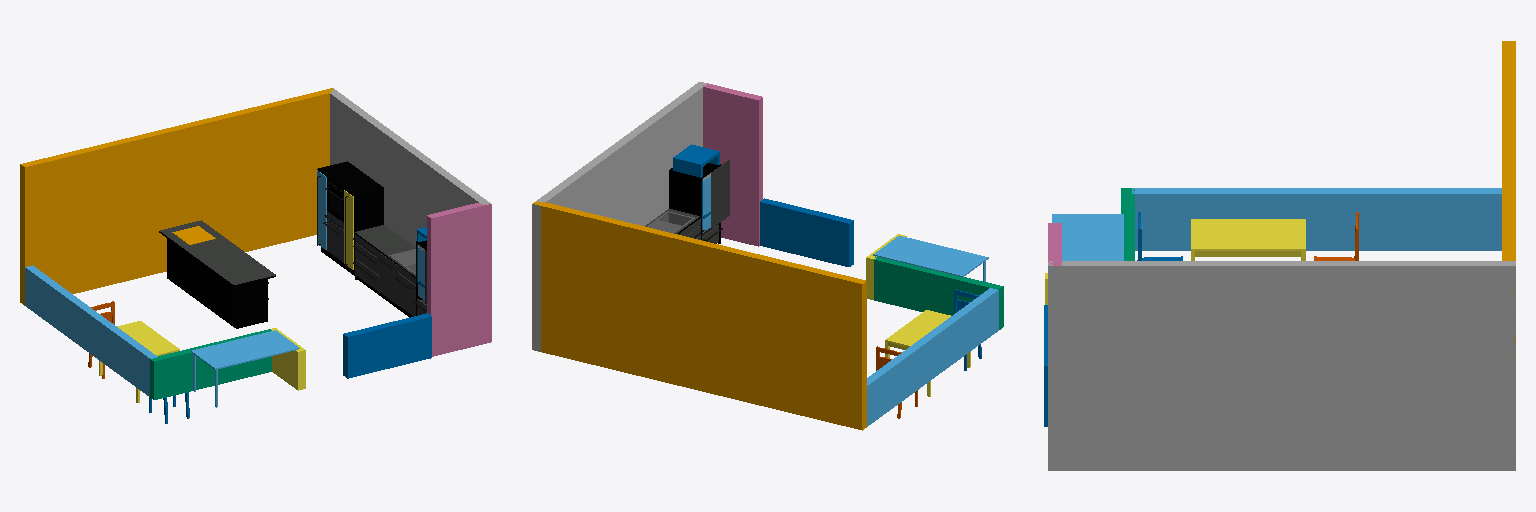
--- Facts derived from the render (not from the file) ---
Views: 3 orthographic renders of the robot side by side, from view 1: azimuth 30°, elevation 25°; view 2: azimuth 150°, elevation 25°; view 3: azimuth 270°, elevation 25°.
Robot: iai_kitchen — 134 links, 133 joints (9 revolute, 16 prismatic, 108 fixed); root link world; default pose: all joints at 0.
Visible links, largest first — view 1: kitchen_wall_3, kitchen_wall_2, kitchen_wall_1, kitchen_island, kitchen_wall_4, kitchen_wall_7, kitchen_wall_5, oven_area_area, table_area_main, sink_area, kitchen_wall_6, dining_area_jokkmokk_table_main (+4 smaller); view 2: kitchen_wall_3, kitchen_wall_2, kitchen_wall_1, kitchen_wall_4, kitchen_wall_7, kitchen_wall_5, table_area_main, fridge_area, dining_area_jokkmokk_table_main, iai_fridge_main, iai_fridge_door, sink_area_sink; view 3: kitchen_wall_2, kitchen_wall_4, dining_area_jokkmokk_table_main, kitchen_wall_3, table_area_main, kitchen_wall_5, kitchen_wall_1.
Boxes of the visible links, x1=… form: kitchen_wall_3: x1=20, y1=88, x2=333, y2=305; kitchen_wall_2: x1=327, y1=88, x2=490, y2=246; kitchen_wall_1: x1=427, y1=203, x2=491, y2=356; kitchen_island: x1=159, y1=220, x2=275, y2=328; kitchen_wall_4: x1=25, y1=265, x2=157, y2=396; kitchen_wall_7: x1=343, y1=313, x2=431, y2=378; kitchen_wall_5: x1=150, y1=329, x2=271, y2=399; oven_area_area: x1=317, y1=161, x2=383, y2=275; table_area_main: x1=191, y1=330, x2=299, y2=407; sink_area: x1=355, y1=225, x2=422, y2=317; kitchen_wall_6: x1=271, y1=328, x2=305, y2=390; dining_area_jokkmokk_table_main: x1=99, y1=321, x2=179, y2=402; kitchen_wall_3: x1=533, y1=200, x2=866, y2=430; kitchen_wall_2: x1=532, y1=82, x2=707, y2=351; kitchen_wall_1: x1=703, y1=83, x2=762, y2=246; kitchen_wall_4: x1=867, y1=288, x2=998, y2=426; kitchen_wall_7: x1=760, y1=198, x2=853, y2=266; kitchen_wall_5: x1=874, y1=256, x2=1003, y2=329; table_area_main: x1=873, y1=236, x2=988, y2=281; fridge_area: x1=669, y1=163, x2=720, y2=243; dining_area_jokkmokk_table_main: x1=885, y1=310, x2=970, y2=396; iai_fridge_main: x1=673, y1=144, x2=719, y2=219; iai_fridge_door: x1=711, y1=159, x2=729, y2=228; sink_area_sink: x1=647, y1=211, x2=694, y2=233; kitchen_wall_2: x1=1048, y1=261, x2=1515, y2=470; kitchen_wall_4: x1=1132, y1=188, x2=1501, y2=250; dining_area_jokkmokk_table_main: x1=1191, y1=219, x2=1305, y2=260; kitchen_wall_3: x1=1502, y1=41, x2=1515, y2=470; table_area_main: x1=1052, y1=214, x2=1123, y2=260; kitchen_wall_5: x1=1121, y1=188, x2=1134, y2=260; kitchen_wall_1: x1=1048, y1=223, x2=1061, y2=265.
Size in the robot's own frame: 5.9 by 5.22 by 3.05 metres.
56 mesh visuals loaded from 30 distinct referenced files (1 binary STL, 26 Collada DAE, 2 OBJ); not drawn: 1 (reference not matched to a file when rendering).

robot.urdf — iai_kitchen:
<?xml version="1.0" ?>
<!-- =================================================================================== -->
<!-- |    This document was autogenerated by xacro from iai_kitchen_python.urdf.xacro  | -->
<!-- |    EDITING THIS FILE BY HAND IS NOT RECOMMENDED                                 | -->
<!-- =================================================================================== -->
<robot name="iai_kitchen" xmlns:xacro="http://ros.org/wiki/xacro">
  <!--- FIXME THIS should NOT be here -->
  <!--
      <link name="map">
      
      <sphere_inertia radius="0" mass="0"/>
      </link>
      <iai_drawer_60_14 name="drawer_1" parent="map">
      <origin rpy="0 0 0" xyz="0 0 1"/>
      </iai_drawer_60_14>
      
      <iai_drawer_80_14 name="drawer_2" parent="map">
      <origin rpy="0 0 0" xyz="0 0 2"/>
      </iai_drawer_80_14>
      
      <iai_drawer_60_29 name="drawer_3" parent="map">
      <origin rpy="0 0 0" xyz="0 0 3"/>
      </iai_drawer_60_29>
      
      <iai_drawer_80_29 name="drawer_4" parent="map">
      <origin rpy="0 0 0" xyz="0 0 4"/>
      </iai_drawer_80_29>
      
      <iai_drawer_100_29 name="drawer_5" parent="map">
      <origin rpy="0 0 0" xyz="0 0 5"/>
      </iai_drawer_100_29>
  -->
  <!--- FIXME THIS should NOT be here -->
  <!--
  <link name="oven_footprint">
    
    <sphere_inertia radius="0" mass="0"/>
  </link>
  <iai_oven name="iai_oven" parent="oven_footprint"/>
  -->
  <!--- FIXME THIS should NOT be here -->
  <!--
      <link name="map">
      
      <sphere_inertia radius="0" mass="0"/>
      </link>
      <iai_drawer_60_14 name="drawer_1" parent="map">
      <origin rpy="0 0 0" xyz="0 0 1"/>
      </iai_drawer_60_14>
      
      <iai_drawer_80_14 name="drawer_2" parent="map">
      <origin rpy="0 0 0" xyz="0 0 2"/>
      </iai_drawer_80_14>
      
      <iai_drawer_60_29 name="drawer_3" parent="map">
      <origin rpy="0 0 0" xyz="0 0 3"/>
      </iai_drawer_60_29>
      
      <iai_drawer_80_29 name="drawer_4" parent="map">
      <origin rpy="0 0 0" xyz="0 0 4"/>
      </iai_drawer_80_29>
      
      <iai_drawer_100_29 name="drawer_5" parent="map">
      <origin rpy="0 0 0" xyz="0 0 5"/>
      </iai_drawer_100_29>
  -->
  <!--- FIXME THIS should NOT be here -->
  <!--
      <link name="map">
      
      <sphere_inertia radius="0" mass="0"/>
      </link>
      <iai_drawer_60_14 name="drawer_1" parent="map">
      <origin rpy="0 0 0" xyz="0 0 1"/>
      </iai_drawer_60_14>
      
      <iai_drawer_80_14 name="drawer_2" parent="map">
      <origin rpy="0 0 0" xyz="0 0 2"/>
      </iai_drawer_80_14>
      
      <iai_drawer_60_29 name="drawer_3" parent="map">
      <origin rpy="0 0 0" xyz="0 0 3"/>
      </iai_drawer_60_29>
      
      <iai_drawer_80_29 name="drawer_4" parent="map">
      <origin rpy="0 0 0" xyz="0 0 4"/>
      </iai_drawer_80_29>
      
      <iai_drawer_100_29 name="drawer_5" parent="map">
      <origin rpy="0 0 0" xyz="0 0 5"/>
      </iai_drawer_100_29>
  -->
  <!--- FIXME THIS should NOT be here -->
  <!--
      <link name="map">
      
      <sphere_inertia radius="0" mass="0"/>
      </link>
      <iai_drawer_60_14 name="drawer_1" parent="map">
      <origin rpy="0 0 0" xyz="0 0 1"/>
      </iai_drawer_60_14>
      
      <iai_drawer_80_14 name="drawer_2" parent="map">
      <origin rpy="0 0 0" xyz="0 0 2"/>
      </iai_drawer_80_14>
      
      <iai_drawer_60_29 name="drawer_3" parent="map">
      <origin rpy="0 0 0" xyz="0 0 3"/>
      </iai_drawer_60_29>
      
      <iai_drawer_80_29 name="drawer_4" parent="map">
      <origin rpy="0 0 0" xyz="0 0 4"/>
      </iai_drawer_80_29>
      
      <iai_drawer_100_29 name="drawer_5" parent="map">
      <origin rpy="0 0 0" xyz="0 0 5"/>
      </iai_drawer_100_29>
  -->
  <link name="room_link">
    <inertial>
      <origin rpy="0 0 0" xyz="0.0 0.0 0.0"/>
      <mass value="1"/>
      <inertia ixx="1" ixy="0.0" ixz="0.0" iyy="1" iyz="0.0" izz="1"/>
    </inertial>
  </link>
  <link name="world"/>
  <joint name="world_room_joint" type="fixed">
    <origin rpy="0 0 0" xyz="0.0 0.03 0 "/>
    <parent link="world"/>
    <child link="room_link"/>
  </joint>
  <link name="sink_area_footprint">
    <inertial>
      <origin rpy="0 0 0" xyz="0.0 0.0 0.0"/>
      <mass value="1"/>
      <inertia ixx="1" ixy="0.0" ixz="0.0" iyy="1" iyz="0.0" izz="1"/>
    </inertial>
  </link>
  <link name="sink_area">
    <inertial>
      <origin rpy="0 0 0" xyz="0.0 0.0 0.0"/>
      <mass value="1"/>
      <inertia ixx="1" ixy="0.0" ixz="0.0" iyy="1" iyz="0.0" izz="1"/>
    </inertial>
    <visual>
      <origin rpy="0 0 0" xyz="0 0 0"/>
      <geometry>
        <mesh filename="package://iai_kitchen/meshes/racks/SinkArea.dae"/>
      </geometry>
    </visual>
    <collision>
      <origin rpy="0 0 0" xyz="0 0 0"/>
      <geometry>
        <mesh filename="package://iai_kitchen/meshes/racks/SinkArea.dae"/>
      </geometry>
    </collision>
  </link>
  <joint name="sink_area_footprint_joint" type="fixed">
    <origin rpy="0 0 3.14159265359" xyz="1.855 1.3 0"/>
    <child link="sink_area_footprint"/>
    <parent link="room_link"/>
  </joint>
  <joint name="sink_area_main_joint" type="fixed">
    <origin rpy="0 0 0" xyz="0.29 1.03 0.41"/>
    <parent link="sink_area_footprint"/>
    <child link="sink_area"/>
  </joint>
  <link name="sink_area_surface">
    <inertial>
      <origin rpy="0 0 0" xyz="0.0 0.0 0.0"/>
      <mass value="1"/>
      <inertia ixx="1" ixy="0.0" ixz="0.0" iyy="1" iyz="0.0" izz="1"/>
    </inertial>
    <collision>
      <origin rpy="0 0 0" xyz="0 -0.225 0"/>
      <geometry>
        <box size="0.575 1.6 0.02"/>
      </geometry>
    </collision>
  </link>
  <joint name="sink_area_surface_joint" type="fixed">
    <origin rpy="0 0 0" xyz="0.0 0. 0.43"/>
    <parent link="sink_area"/>
    <child link="sink_area_surface"/>
  </joint>
  <link name="sink_area_sink">
    <inertial>
      <origin rpy="0 0 0" xyz="0.0 0.0 0.0"/>
      <mass value="1"/>
      <inertia ixx="1" ixy="0.0" ixz="0.0" iyy="1" iyz="0.0" izz="1"/>
    </inertial>
    <visual>
      <origin rpy="0 0 0" xyz="0 0 0"/>
      <geometry>
        <mesh filename="package://iai_kitchen/meshes/misc/Sink.dae"/>
      </geometry>
    </visual>
    <collision>
      <origin rpy="0 0 0" xyz="0 0 0"/>
      <geometry>
        <mesh filename="package://iai_kitchen/meshes/misc/Sink.dae"/>
      </geometry>
    </collision>
  </link>
  <joint name="sink_area_sink_joint" type="fixed">
    <origin rpy="0 0 0" xyz="0.005 0.47 0.4414"/>
    <parent link="sink_area"/>
    <child link="sink_area_sink"/>
  </joint>
  <link name="sink_area_right_panel">
    <inertial>
      <origin rpy="0 0 0" xyz="0.0 0.0 0.0"/>
      <mass value="1"/>
      <inertia ixx="1" ixy="0.0" ixz="0.0" iyy="1" iyz="0.0" izz="1"/>
    </inertial>
    <visual>
      <origin rpy="0 0 0" xyz="0 0 0"/>
      <geometry>
        <mesh filename="package://iai_kitchen/meshes/drawers/Panel_60.dae"/>
      </geometry>
    </visual>
    <collision>
      <origin rpy="0 0 0" xyz="0 0 0"/>
      <geometry>
        <mesh filename="package://iai_kitchen/meshes/drawers/Panel_60.dae"/>
      </geometry>
    </collision>
  </link>
  <joint name="sink_area_right_panel_joint" type="fixed">
    <origin rpy="0 0 0" xyz="0.28 0.7 0.355 "/>
    <parent link="sink_area"/>
    <child link="sink_area_right_panel"/>
  </joint>
  <link name="sink_area_trash_drawer_main">
    <inertial>
      <origin rpy="0 0 0" xyz="0.0 0.0 0.0"/>
      <mass value="1"/>
      <inertia ixx="1" ixy="0.0" ixz="0.0" iyy="1" iyz="0.0" izz="1"/>
    </inertial>
    <visual>
      <origin rpy="0 0 0" xyz="0 0 0"/>
      <geometry>
        <mesh filename="package://iai_kitchen/meshes/drawers/Drawer_60_58.dae"/>
      </geometry>
    </visual>
    <collision>
      <origin rpy="0 0 0" xyz="0 0 0"/>
      <geometry>
        <mesh filename="package://iai_kitchen/meshes/drawers/Drawer_60_58.dae"/>
      </geometry>
    </collision>
  </link>
  <link name="sink_area_trash_drawer_handle">
    <inertial>
      <origin rpy="0 0 0" xyz="0.0 0.0 0.0"/>
      <mass value="1"/>
      <inertia ixx="1" ixy="0.0" ixz="0.0" iyy="1" iyz="0.0" izz="1"/>
    </inertial>
    <visual>
      <origin rpy="0 0 0" xyz="0 0 0"/>
      <geometry>
        <mesh filename="package://iai_kitchen/meshes/handles/Handle60.dae"/>
      </geometry>
    </visual>
    <collision>
      <origin rpy="0 0 0" xyz="0 0 0"/>
      <geometry>
        <mesh filename="package://iai_kitchen/meshes/handles/Handle60.dae"/>
      </geometry>
    </collision>
  </link>
  <joint name="sink_area_trash_drawer_main_joint" type="prismatic">
    <origin rpy="0 0 0" xyz="0.01 0.7 -0.015 "/>
    <parent link="sink_area"/>
    <child link="sink_area_trash_drawer_main"/>
    <axis xyz="1. 0. 0.0"/>
    <limit effort="300" lower="0" upper="0.48" velocity="10"/>
    <!--
          <limit effort="300" lower="0" upper="0" velocity="10"/>
      -->
  </joint>
  <joint name="sink_area_trash_drawer_handle_joint" type="fixed">
    <origin rpy="0 0 0" xyz="0.37 0 0.25"/>
    <parent link="sink_area_trash_drawer_main"/>
    <child link="sink_area_trash_drawer_handle"/>
    <axis xyz="0 0 1"/>
    <limit effort="300" lower="0" upper="1.57079632679" velocity="10"/>
  </joint>
  <link name="sink_area_left_upper_drawer_main">
    <inertial>
      <origin rpy="0 0 0" xyz="0.0 0.0 0.0"/>
      <mass value="1"/>
      <inertia ixx="1" ixy="0.0" ixz="0.0" iyy="1" iyz="0.0" izz="1"/>
    </inertial>
    <visual>
      <origin rpy="0 0 0" xyz="0 0 0"/>
      <geometry>
        <mesh filename="package://iai_kitchen/meshes/drawers/Drawer_80_14.dae"/>
      </geometry>
    </visual>
    <collision>
      <origin rpy="0 0 0" xyz="0 0 0"/>
      <geometry>
        <mesh filename="package://iai_kitchen/meshes/drawers/Drawer_80_14.dae"/>
      </geometry>
    </collision>
  </link>
  <link name="sink_area_left_upper_drawer_handle">
    <inertial>
      <origin rpy="0 0 0" xyz="0.0 0.0 0.0"/>
      <mass value="1"/>
      <inertia ixx="1" ixy="0.0" ixz="0.0" iyy="1" iyz="0.0" izz="1"/>
    </inertial>
    <visual>
      <origin rpy="0 0 0" xyz="0 0 0"/>
      <geometry>
        <mesh filename="package://iai_kitchen/meshes/handles/Handle80.dae"/>
      </geometry>
    </visual>
    <collision>
      <origin rpy="0 0 0" xyz="0 0 0"/>
      <geometry>
        <mesh filename="package://iai_kitchen/meshes/handles/Handle80.dae"/>
      </geometry>
    </collision>
  </link>
  <joint name="sink_area_left_upper_drawer_main_joint" type="prismatic">
    <origin rpy="0 0 0" xyz="0.01 -0.6 0.345 "/>
    <parent link="sink_area"/>
    <child link="sink_area_left_upper_drawer_main"/>
    <axis xyz="1. 0. 0.0"/>
    <limit effort="300" lower="0" upper="0.48" velocity="10"/>
    <!--
          <limit effort="300" lower="0" upper="0" velocity="10"/>
      -->
  </joint>
  <joint name="sink_area_left_upper_drawer_handle_joint" type="fixed">
    <origin rpy="0 0 0" xyz="0.3525 0 0.0175"/>
    <parent link="sink_area_left_upper_drawer_main"/>
    <child link="sink_area_left_upper_drawer_handle"/>
    <axis xyz="0 0 1"/>
    <limit effort="300" lower="0" upper="1.57079632679" velocity="10"/>
  </joint>
  <link name="sink_area_left_middle_drawer_main">
    <inertial>
      <origin rpy="0 0 0" xyz="0.0 0.0 0.0"/>
      <mass value="1"/>
      <inertia ixx="1" ixy="0.0" ixz="0.0" iyy="1" iyz="0.0" izz="1"/>
    </inertial>
    <visual>
      <origin rpy="0 0 0" xyz="0 0 0"/>
      <geometry>
        <mesh filename="package://iai_kitchen/meshes/drawers/Drawer_80_29.dae"/>
      </geometry>
    </visual>
    <collision>
      <origin rpy="0 0 0" xyz="0 0 0"/>
      <geometry>
        <mesh filename="package://iai_kitchen/meshes/drawers/Drawer_80_29.dae"/>
      </geometry>
    </collision>
  </link>
  <link name="sink_area_left_middle_drawer_handle">
    <inertial>
      <origin rpy="0 0 0" xyz="0.0 0.0 0.0"/>
      <mass value="1"/>
      <inertia ixx="1" ixy="0.0" ixz="0.0" iyy="1" iyz="0.0" izz="1"/>
    </inertial>
    <visual>
      <origin rpy="0 0 0" xyz="0 0 0"/>
      <geometry>
        <mesh filename="package://iai_kitchen/meshes/handles/Handle80.dae"/>
      </geometry>
    </visual>
    <collision>
      <origin rpy="0 0 0" xyz="0 0 0"/>
      <geometry>
        <mesh filename="package://iai_kitchen/meshes/handles/Handle80.dae"/>
      </geometry>
    </collision>
  </link>
  <joint name="sink_area_left_middle_drawer_main_joint" type="prismatic">
    <origin rpy="0 0 0" xyz="0.01 -0.6 0.12 "/>
    <parent link="sink_area"/>
    <child link="sink_area_left_middle_drawer_main"/>
    <axis xyz="1. 0. 0.0"/>
    <limit effort="300" lower="0" upper="0.48" velocity="10"/>
    <!--
          <limit effort="300" lower="0" upper="0" velocity="10"/>
      -->
  </joint>
  <joint name="sink_area_left_middle_drawer_handle_joint" type="fixed">
    <origin rpy="0 0 0" xyz="0.3525 0 0.11"/>
    <parent link="sink_area_left_middle_drawer_main"/>
    <child link="sink_area_left_middle_drawer_handle"/>
    <axis xyz="0 0 1"/>
    <limit effort="300" lower="0" upper="1.57079632679" velocity="10"/>
  </joint>
  <link name="sink_area_left_bottom_drawer_main">
    <inertial>
      <origin rpy="0 0 0" xyz="0.0 0.0 0.0"/>
      <mass value="1"/>
      <inertia ixx="1" ixy="0.0" ixz="0.0" iyy="1" iyz="0.0" izz="1"/>
    </inertial>
    <visual>
      <origin rpy="0 0 0" xyz="0 0 0"/>
      <geometry>
        <mesh filename="package://iai_kitchen/meshes/drawers/Drawer_80_29.dae"/>
      </geometry>
    </visual>
    <collision>
      <origin rpy="0 0 0" xyz="0 0 0"/>
      <geometry>
        <mesh filename="package://iai_kitchen/meshes/drawers/Drawer_80_29.dae"/>
      </geometry>
    </collision>
  </link>
  <link name="sink_area_left_bottom_drawer_handle">
    <inertial>
      <origin rpy="0 0 0" xyz="0.0 0.0 0.0"/>
      <mass value="1"/>
      <inertia ixx="1" ixy="0.0" ixz="0.0" iyy="1" iyz="0.0" izz="1"/>
    </inertial>
    <visual>
      <origin rpy="0 0 0" xyz="0 0 0"/>
      <geometry>
        <mesh filename="package://iai_kitchen/meshes/handles/Handle80.dae"/>
      </geometry>
    </visual>
    <collision>
      <origin rpy="0 0 0" xyz="0 0 0"/>
      <geometry>
        <mesh filename="package://iai_kitchen/meshes/handles/Handle80.dae"/>
      </geometry>
    </collision>
  </link>
  <joint name="sink_area_left_bottom_drawer_main_joint" type="prismatic">
    <origin rpy="0 0 0" xyz="0.01 -0.6 -0.18"/>
    <parent link="sink_area"/>
    <child link="sink_area_left_bottom_drawer_main"/>
    <axis xyz="1. 0. 0.0"/>
    <limit effort="300" lower="0" upper="0.48" velocity="10"/>
    <!--
          <limit effort="300" lower="0" upper="0" velocity="10"/>
      -->
  </joint>
  <joint name="sink_area_left_bottom_drawer_handle_joint" type="fixed">
    <origin rpy="0 0 0" xyz="0.3525 0 0.11"/>
    <parent link="sink_area_left_bottom_drawer_main"/>
    <child link="sink_area_left_bottom_drawer_handle"/>
    <axis xyz="0 0 1"/>
    <limit effort="300" lower="0" upper="1.57079632679" velocity="10"/>
  </joint>
  <link name="sink_area_dish_washer_main">
    <inertial>
      <origin rpy="0 0 0" xyz="0.0 0.0 0.0"/>
      <mass value="1"/>
      <inertia ixx="1" ixy="0.0" ixz="0.0" iyy="1" iyz="0.0" izz="1"/>
    </inertial>
    <visual>
      <origin rpy="0 0 0" xyz="0 0 0"/>
      <geometry>
        <mesh filename="package://iai_kitchen/meshes/misc/DishWasher.dae"/>
      </geometry>
    </visual>
    <collision>
      <origin rpy="0 0 0" xyz="0 0 0"/>
      <geometry>
        <mesh filename="package://iai_kitchen/meshes/misc/DishWasher.dae"/>
      </geometry>
    </collision>
  </link>
  <link name="sink_area_dish_washer_door">
    <inertial>
      <origin rpy="0 0 0" xyz="0.0 0.0 0.0"/>
      <mass value="1"/>
      <inertia ixx="1" ixy="0.0" ixz="0.0" iyy="1" iyz="0.0" izz="1"/>
    </inertial>
    <visual>
      <origin rpy="1.57079632679 0 0" xyz="0 0.055 0"/>
      <geometry>
        <mesh filename="package://iai_kitchen/meshes/misc/DishWasherDoor.dae"/>
      </geometry>
    </visual>
    <collision>
      <origin rpy="1.57079632679 0 0" xyz="0 0.055 0"/>
      <geometry>
        <mesh filename="package://iai_kitchen/meshes/misc/DishWasherDoor.dae"/>
      </geometry>
    </collision>
  </link>
  <link name="sink_area_dish_washer_door_handle">
    <inertial>
      <origin rpy="0 0 0" xyz="0.0 0.0 0.0"/>
      <mass value="1"/>
      <inertia ixx="1" ixy="0.0" ixz="0.0" iyy="1" iyz="0.0" izz="1"/>
    </inertial>
    <visual>
      <origin rpy="0 0 0" xyz="0 0 0"/>
      <geometry>
        <mesh filename="package://iai_kitchen/meshes/handles/Handle60.dae"/>
      </geometry>
    </visual>
    <collision>
      <origin rpy="0 0 0" xyz="0 0 0"/>
      <geometry>
        <mesh filename="package://iai_kitchen/meshes/handles/Handle60.dae"/>
      </geometry>
    </collision>
  </link>
  <!--
    <xacro:if value="simulated"/>
    -->
  <joint name="sink_area_dish_washer_main_joint" type="revolute">
    <limit effort="300" lower="0" upper="0" velocity="10"/>
    <origin rpy="0 0 0" xyz="0.01 0.1 0.06"/>
    <parent link="sink_area"/>
    <child link="sink_area_dish_washer_main"/>
  </joint>
  <!--
    <xacro:if value="${simulated}">
    <joint name="${name}_door_joint" type="revolute">
      <origin xyz="0.27 0. -0.325" rpy="${-0.5*pi} 0 0" />
      <parent link="${name}_main"/>
      <child link="${name}_door"/>
      <axis xyz="0 0 1"/>
       FIXME make closed position stable instead of forbidding opening...
      <limit lower="0" upper="0" effort="300" velocity="10"/>
    </joint>

    </xacro:if>
    -->
  <!--
    <xacro:unless value="${simulated}">
    -->
  <joint name="sink_area_dish_washer_door_joint" type="revolute">
    <origin rpy="-1.57079632679 0 0" xyz="0.27 0. -0.285"/>
    <parent link="sink_area_dish_washer_main"/>
    <child link="sink_area_dish_washer_door"/>
    <axis xyz="0 0 1"/>
    <!--
      <limit lower="0" upper="${0.5*pi}" effort="300" velocity="10"/>
      -->
    <limit effort="300" lower="0" upper="1.57079632679" velocity="10"/>
  </joint>
  <!--
    </xacro:unless>
  -->
  <joint name="sink_area_dish_washer_door_handle_joint" type="fixed">
    <origin rpy="-1.57079632679 0 0" xyz="0.09 -0.575 0.0"/>
    <parent link="sink_area_dish_washer_door"/>
    <child link="sink_area_dish_washer_door_handle"/>
  </joint>
  <joint name="sink_area_dish_washer_tray_main" type="prismatic">
    <origin xyz="-0.10 0 0.15"/>
    <parent link="sink_area_dish_washer_main"/>
    <child link="sink_area_dish_washer_tray_bottom"/>
    <axis xyz="1 0 0"/>
    <limit effort="300" lower="0" upper="0.40" velocity="10"/>
  </joint>
  <link name="sink_area_dish_washer_tray_bottom">
    <visual>
      <geometry>
        <box size="0.32 0.5 0.02"/>
      </geometry>
    </visual>
    <collision>
      <geometry>
        <box size="0.32 0.5 0.02"/>
      </geometry>
    </collision>
  </link>
  <link name="sink_area_dish_washer_tray_left_side">
    <visual>
      <geometry>
        <box size="0.32 0.005 0.17"/>
      </geometry>
    </visual>
    <collision>
      <geometry>
        <box size="0.32 0.005 0.17"/>
      </geometry>
    </collision>
  </link>
  <link name="sink_area_dish_washer_tray_right_side">
    <visual>
      <geometry>
        <box size="0.32 0.005 0.17"/>
      </geometry>
    </visual>
    <collision>
      <geometry>
        <box size="0.32 0.005 0.17"/>
      </geometry>
    </collision>
  </link>
  <link name="sink_area_dish_washer_tray_back_side">
    <visual>
      <geometry>
        <box size="0.005 0.5 0.17"/>
      </geometry>
    </visual>
    <collision>
      <geometry>
        <box size="0.005 0.5 0.17"/>
      </geometry>
    </collision>
  </link>
  <link name="sink_area_dish_washer_tray_front_side">
    <visual>
      <geometry>
        <box size="0.005 0.5 0.17"/>
      </geometry>
    </visual>
    <collision>
      <geometry>
        <box size="0.005 0.5 0.17"/>
      </geometry>
    </collision>
  </link>
  <joint name="sink_area_dish_washer_tray_bottom_left" type="fixed">
    <origin xyz="-0.0 -0.25 0.075"/>
    <child link="sink_area_dish_washer_tray_left_side"/>
    <parent link="sink_area_dish_washer_tray_bottom"/>
  </joint>
  <joint name="sink_area_dish_washer_tray_bottom_right" type="fixed">
    <origin xyz="-0.0 0.25 0.075"/>
    <child link="sink_area_dish_washer_tray_right_side"/>
    <parent link="sink_area_dish_washer_tray_bottom"/>
  </joint>
  <joint name="sink_area_dish_washer_tray_bottom_back" type="fixed">
    <origin xyz="-0.16 0 0.075"/>
    <child link="sink_area_dish_washer_tray_back_side"/>
    <parent link="sink_area_dish_washer_tray_bottom"/>
  </joint>
  <joint name="sink_area_dish_washer_tray_bottom_front" type="fixed">
    <origin xyz="0.16 0 0.075"/>
    <child link="sink_area_dish_washer_tray_front_side"/>
    <parent link="sink_area_dish_washer_tray_bottom"/>
  </joint>
  <joint name="sink_area_dish_washer_tray_handle_joint" type="fixed">
    <origin xyz="0.025 0 -0.05"/>
    <child link="sink_area_dish_washer_tray_handle_front_side"/>
    <parent link="sink_area_dish_washer_tray_front_side"/>
  </joint>
  <link name="sink_area_dish_washer_tray_handle_left_side">
    <visual>
      <geometry>
        <box size="0.03 0.01 0.01"/>
      </geometry>
    </visual>
    <collision>
      <geometry>
        <box size="0.03 0.01 0.01"/>
      </geometry>
    </collision>
  </link>
  <link name="sink_area_dish_washer_tray_handle_right_side">
    <visual>
      <geometry>
        <box size="0.03 0.01 0.01"/>
      </geometry>
    </visual>
    <collision>
      <geometry>
        <box size="0.03 0.01 0.01"/>
      </geometry>
    </collision>
  </link>
  <link name="sink_area_dish_washer_tray_handle_front_side">
    <visual>
      <geometry>
        <box size="0.01 0.4 0.01"/>
      </geometry>
    </visual>
    <collision>
      <geometry>
        <box size="0.01 0.4 0.01"/>
      </geometry>
    </collision>
  </link>
  <joint name="sink_area_dish_washer_tray_handle_front_left_joint" type="fixed">
    <origin xyz="-0.01 -0.2 0"/>
    <child link="sink_area_dish_washer_tray_handle_left_side"/>
    <parent link="sink_area_dish_washer_tray_handle_front_side"/>
  </joint>
  <joint name="sink_area_dish_washer_tray_handle_front_right_joint" type="fixed">
    <origin xyz="-0.01 0.2 0"/>
    <child link="sink_area_dish_washer_tray_handle_right_side"/>
    <parent link="sink_area_dish_washer_tray_handle_front_side"/>
  </joint>
  <link name="oven_area_area_footprint">
    <inertial>
      <origin rpy="0 0 0" xyz="0.0 0.0 0.0"/>
      <mass value="1"/>
      <inertia ixx="1" ixy="0.0" ixz="0.0" iyy="1" iyz="0.0" izz="1"/>
    </inertial>
  </link>
  <link name="oven_area_area">
    <inertial>
      <origin rpy="0 0 0" xyz="0.0 0.0 0.0"/>
      <mass value="1"/>
      <inertia ixx="1" ixy="0.0" ixz="0.0" iyy="1" iyz="0.0" izz="1"/>
    </inertial>
    <visual>
      <origin rpy="0 0 0" xyz="0 0 0"/>
      <geometry>
        <mesh filename="package://iai_kitchen/meshes/racks/OvenArea.dae"/>
      </geometry>
    </visual>
    <collision>
      <origin rpy="0 0 0" xyz="0 0 0"/>
      <geometry>
        <mesh filename="package://iai_kitchen/meshes/racks/OvenArea.dae"/>
      </geometry>
    </collision>
  </link>
  <joint name="oven_area_footprint_joint" type="fixed">
    <origin rpy="0 0 3.14159265359" xyz="1.845 2.5 0"/>
    <child link="oven_area_area_footprint"/>
    <parent link="room_link"/>
  </joint>
  <joint name="oven_area_main_joint" type="fixed">
    <origin rpy="0 0 0" xyz="0.29 0.6 0.755"/>
    <parent link="oven_area_area_footprint"/>
    <child link="oven_area_area"/>
  </joint>
  <!-- LINKS -->
  <link name="oven_area_oven_main">
    <inertial>
      <origin rpy="0 0 0" xyz="0.0 0.0 0.0"/>
      <mass value="1"/>
      <inertia ixx="1" ixy="0.0" ixz="0.0" iyy="1" iyz="0.0" izz="1"/>
    </inertial>
    <visual>
      <origin rpy="0 0 0" xyz="0 0 0"/>
      <geometry>
        <mesh filename="package://iai_kitchen/meshes/oven/OvenMain.dae"/>
      </geometry>
    </visual>
    <collision>
      <origin rpy="0 0 0" xyz="0 0 0"/>
      <geometry>
        <mesh filename="package://iai_kitchen/meshes/oven/OvenMain.dae"/>
      </geometry>
    </collision>
  </link>
  <link name="oven_area_oven_door">
    <inertial>
      <origin rpy="0 0 0" xyz="0.0 0.0 0.0"/>
      <mass value="1"/>
      <inertia ixx="1" ixy="0.0" ixz="0.0" iyy="1" iyz="0.0" izz="1"/>
    </inertial>
    <visual>
      <origin rpy="1.57079632679 0 0" xyz="0 0 0"/>
      <geometry>
        <mesh filename="package://iai_kitchen/meshes/oven/OvenDoor.dae"/>
      </geometry>
    </visual>
    <collision>
      <origin rpy="1.57079632679 0 0" xyz="0 0 0"/>
      <geometry>
        <mesh filename="package://iai_kitchen/meshes/oven/OvenDoor.dae"/>
      </geometry>
    </collision>
  </link>
  <link name="oven_area_oven_door_handle">
    <inertial>
      <origin rpy="0 0 0" xyz="0.0 0.0 0.0"/>
      <mass value="1"/>
      <inertia ixx="1" ixy="0.0" ixz="0.0" iyy="1" iyz="0.0" izz="1"/>
    </inertial>
    <visual>
      <origin rpy="0 0 0" xyz="0 0 0"/>
      <geometry>
        <mesh filename="package://iai_kitchen/meshes/handles/Handle60.dae"/>
      </geometry>
    </visual>
    <collision>
      <origin rpy="0 0 0" xyz="0 0 0"/>
      <geometry>
        <mesh filename="package://iai_kitchen/meshes/handles/Handle60.dae"/>
      </geometry>
    </collision>
  </link>
  <link name="oven_area_oven_panel">
    <inertial>
      <origin rpy="0 0 0" xyz="0.0 0.0 0.0"/>
      <mass value="1"/>
      <inertia ixx="1" ixy="0.0" ixz="0.0" iyy="1" iyz="0.0" izz="1"/>
    </inertial>
    <visual>
      <origin rpy="0 0 0" xyz="0 0 0"/>
      <geometry>
        <mesh filename="package://iai_kitchen/meshes/oven/OvenPanel.dae"/>
      </geometry>
    </visual>
    <collision>
      <origin rpy="0 0 0" xyz="0 0 0"/>
      <geometry>
        <mesh filename="package://iai_kitchen/meshes/oven/OvenPanel.dae"/>
      </geometry>
    </collision>
  </link>
  <!-- JOINTS -->
  <joint name="oven_area_oven_main_joint" type="fixed">
    <origin rpy="0 0 0" xyz="0.0 0.0 0.415"/>
    <parent link="oven_area_area"/>
    <child link="oven_area_oven_main"/>
  </joint>
  <joint name="oven_area_oven_door_joint" type="revolute">
    <origin rpy="-1.57079632679 0 0" xyz="0.2737 0. -0.2614"/>
    <parent link="oven_area_oven_main"/>
    <child link="oven_area_oven_door"/>
    <axis xyz="0 0 1"/>
    <!--
        <limit lower="0" upper="${0.5*pi}" effort="300" velocity="10"/>
        -->
    <!-- FIXME make the closed position stable -->
    <limit effort="0.03" lower="0" upper="1.57079632679" velocity="10"/>
    <dynamics damping="100.1"/>
  </joint>
  <gazebo reference="oven_area_oven_door_joint">
    <kp>1000000000</kp>
    <kd>1000000000</kd>
  </gazebo>
  <joint name="oven_area_oven_door_handle_joint" type="fixed">
    <origin rpy="-1.57079632679 0 0" xyz="0.05876 -0.39803 0."/>
    <parent link="oven_area_oven_door"/>
    <child link="oven_area_oven_door_handle"/>
    <axis xyz="0 0 1"/>
    <limit effort="300" lower="0" upper="1.57079632679" velocity="10"/>
  </joint>
  <joint name="oven_area_oven_panel_joint" type="fixed">
    <origin rpy="0 0 0" xyz="0.27 0 0.2449"/>
    <parent link="oven_area_oven_main"/>
    <child link="oven_area_oven_panel"/>
  </joint>
  <!--KNOBS -->
  <link name="oven_area_oven_knob_stove_1">
    <inertial>
      <origin rpy="0 0 0" xyz="0.0 0.0 0.0"/>
      <mass value="1"/>
      <inertia ixx="1" ixy="0.0" ixz="0.0" iyy="1" iyz="0.0" izz="1"/>
    </inertial>
    <visual>
      <origin rpy="0 1.57079632679 0" xyz="0 0 0"/>
      <geometry>
        <mesh filename="package://iai_kitchen/meshes/oven/Knob.dae"/>
      </geometry>
    </visual>
    <collision>
      <origin rpy="0 1.57079632679 0" xyz="0 0 0"/>
      <geometry>
        <mesh filename="package://iai_kitchen/meshes/oven/Knob.dae"/>
      </geometry>
    </collision>
  </link>
  <joint name="oven_area_oven_knob_stove_1_joint" type="revolute">
    <origin rpy="0 -1.57079632679 0" xyz="0 -0.21 0"/>
    <parent link="oven_area_oven_panel"/>
    <child link="oven_area_oven_knob_stove_1"/>
    <axis xyz="0 0 1"/>
    <limit effort="300" lower="0" upper="3.14159265359" velocity="10"/>
  </joint>
  <link name="oven_area_oven_knob_stove_2">
    <inertial>
      <origin rpy="0 0 0" xyz="0.0 0.0 0.0"/>
      <mass value="1"/>
      <inertia ixx="1" ixy="0.0" ixz="0.0" iyy="1" iyz="0.0" izz="1"/>
    </inertial>
    <visual>
      <origin rpy="0 1.57079632679 0" xyz="0 0 0"/>
      <geometry>
        <mesh filename="package://iai_kitchen/meshes/oven/Knob.dae"/>
      </geometry>
    </visual>
    <collision>
      <origin rpy="0 1.57079632679 0" xyz="0 0 0"/>
      <geometry>
        <mesh filename="package://iai_kitchen/meshes/oven/Knob.dae"/>
      </geometry>
    </collision>
  </link>
  <joint name="oven_area_oven_knob_stove_2_joint" type="revolute">
    <origin rpy="0 -1.57079632679 0" xyz="0 -0.14 0"/>
    <parent link="oven_area_oven_panel"/>
    <child link="oven_area_oven_knob_stove_2"/>
    <axis xyz="0 0 1"/>
    <limit effort="300" lower="0" upper="3.14159265359" velocity="10"/>
  </joint>
  <link name="oven_area_oven_knob_stove_3">
    <inertial>
      <origin rpy="0 0 0" xyz="0.0 0.0 0.0"/>
      <mass value="1"/>
      <inertia ixx="1" ixy="0.0" ixz="0.0" iyy="1" iyz="0.0" izz="1"/>
    </inertial>
    <visual>
      <origin rpy="0 1.57079632679 0" xyz="0 0 0"/>
      <geometry>
        <mesh filename="package://iai_kitchen/meshes/oven/Knob.dae"/>
      </geometry>
    </visual>
    <collision>
      <origin rpy="0 1.57079632679 0" xyz="0 0 0"/>
      <geometry>
        <mesh filename="package://iai_kitchen/meshes/oven/Knob.dae"/>
      </geometry>
    </collision>
  </link>
  <joint name="oven_area_oven_knob_stove_3_joint" type="revolute">
    <origin rpy="0 -1.57079632679 0" xyz="0 -0.07 0"/>
    <parent link="oven_area_oven_panel"/>
    <child link="oven_area_oven_knob_stove_3"/>
    <axis xyz="0 0 1"/>
    <limit effort="300" lower="0" upper="3.14159265359" velocity="10"/>
  </joint>
  <link name="oven_area_oven_knob_stove_4">
    <inertial>
      <origin rpy="0 0 0" xyz="0.0 0.0 0.0"/>
      <mass value="1"/>
      <inertia ixx="1" ixy="0.0" ixz="0.0" iyy="1" iyz="0.0" izz="1"/>
    </inertial>
    <visual>
      <origin rpy="0 1.57079632679 0" xyz="0 0 0"/>
      <geometry>
        <mesh filename="package://iai_kitchen/meshes/oven/Knob.dae"/>
      </geometry>
    </visual>
    <collision>
      <origin rpy="0 1.57079632679 0" xyz="0 0 0"/>
      <geometry>
        <mesh filename="package://iai_kitchen/meshes/oven/Knob.dae"/>
      </geometry>
    </collision>
  </link>
  <joint name="oven_area_oven_knob_stove_4_joint" type="revolute">
    <origin rpy="0 -1.57079632679 0" xyz="0 -0.0 0"/>
    <parent link="oven_area_oven_panel"/>
    <child link="oven_area_oven_knob_stove_4"/>
    <axis xyz="0 0 1"/>
    <limit effort="300" lower="0" upper="3.14159265359" velocity="10"/>
  </joint>
  <link name="oven_area_oven_knob_oven">
    <inertial>
      <origin rpy="0 0 0" xyz="0.0 0.0 0.0"/>
      <mass value="1"/>
      <inertia ixx="1" ixy="0.0" ixz="0.0" iyy="1" iyz="0.0" izz="1"/>
    </inertial>
    <visual>
      <origin rpy="0 1.57079632679 0" xyz="0 0 0"/>
      <geometry>
        <mesh filename="package://iai_kitchen/meshes/oven/Knob.dae"/>
      </geometry>
    </visual>
    <collision>
      <origin rpy="0 1.57079632679 0" xyz="0 0 0"/>
      <geometry>
        <mesh filename="package://iai_kitchen/meshes/oven/Knob.dae"/>
      </geometry>
    </collision>
  </link>
  <joint name="oven_area_oven_knob_oven_joint" type="revolute">
    <origin rpy="0 -1.57079632679 0" xyz="0 0.16 0"/>
    <parent link="oven_area_oven_panel"/>
    <child link="oven_area_oven_knob_oven"/>
    <axis xyz="0 0 1"/>
    <limit effort="300" lower="0" upper="3.14159265359" velocity="10"/>
  </joint>
  <link name="oven_area_area_middle_upper_drawer_main">
    <inertial>
      <origin rpy="0 0 0" xyz="0.0 0.0 0.0"/>
      <mass value="1"/>
      <inertia ixx="1" ixy="0.0" ixz="0.0" iyy="1" iyz="0.0" izz="1"/>
    </inertial>
    <visual>
      <origin rpy="0 0 0" xyz="0 0 0"/>
      <geometry>
        <mesh filename="package://iai_kitchen/meshes/drawers/Drawer_60_14.dae"/>
      </geometry>
    </visual>
    <collision>
      <origin rpy="0 0 0" xyz="0 0 0"/>
      <geometry>
        <mesh filename="package://iai_kitchen/meshes/drawers/Drawer_60_14.dae"/>
      </geometry>
    </collision>
  </link>
  <link name="oven_area_area_middle_upper_drawer_handle">
    <inertial>
      <origin rpy="0 0 0" xyz="0.0 0.0 0.0"/>
      <mass value="1"/>
      <inertia ixx="1" ixy="0.0" ixz="0.0" iyy="1" iyz="0.0" izz="1"/>
    </inertial>
    <visual>
      <origin rpy="0 0 0" xyz="0 0 0"/>
      <geometry>
        <mesh filename="package://iai_kitchen/meshes/handles/Handle60.dae"/>
      </geometry>
    </visual>
    <collision>
      <origin rpy="0 0 0" xyz="0 0 0"/>
      <geometry>
        <mesh filename="package://iai_kitchen/meshes/handles/Handle60.dae"/>
      </geometry>
    </collision>
  </link>
  <joint name="oven_area_area_middle_upper_drawer_main_joint" type="prismatic">
    <origin rpy="0 0 0" xyz="0.0 -0. 0.045 "/>
    <parent link="oven_area_area"/>
    <child link="oven_area_area_middle_upper_drawer_main"/>
    <axis xyz="1. 0. 0.0"/>
    <limit effort="300" lower="0" upper="0.48" velocity="10"/>
    <!--
          <limit effort="300" lower="0" upper="0" velocity="10"/>
      -->
  </joint>
  <joint name="oven_area_area_middle_upper_drawer_handle_joint" type="fixed">
    <origin rpy="0 0 0" xyz="0.3525 0 0.0175"/>
    <parent link="oven_area_area_middle_upper_drawer_main"/>
    <child link="oven_area_area_middle_upper_drawer_handle"/>
    <axis xyz="0 0 1"/>
    <limit effort="300" lower="0" upper="1.57079632679" velocity="10"/>
  </joint>
  <link name="oven_area_area_middle_lower_drawer_main">
    <inertial>
      <origin rpy="0 0 0" xyz="0.0 0.0 0.0"/>
      <mass value="1"/>
      <inertia ixx="1" ixy="0.0" ixz="0.0" iyy="1" iyz="0.0" izz="1"/>
    </inertial>
    <visual>
      <origin rpy="0 0 0" xyz="0 0 0"/>
      <geometry>
        <mesh filename="package://iai_kitchen/meshes/drawers/Drawer_60_58.dae"/>
      </geometry>
    </visual>
    <collision>
      <origin rpy="0 0 0" xyz="0 0 0"/>
      <geometry>
        <mesh filename="package://iai_kitchen/meshes/drawers/Drawer_60_58.dae"/>
      </geometry>
    </collision>
  </link>
  <link name="oven_area_area_middle_lower_drawer_handle">
    <inertial>
      <origin rpy="0 0 0" xyz="0.0 0.0 0.0"/>
      <mass value="1"/>
      <inertia ixx="1" ixy="0.0" ixz="0.0" iyy="1" iyz="0.0" izz="1"/>
    </inertial>
    <visual>
      <origin rpy="0 0 0" xyz="0 0 0"/>
      <geometry>
        <mesh filename="package://iai_kitchen/meshes/handles/Handle60.dae"/>
      </geometry>
    </visual>
    <collision>
      <origin rpy="0 0 0" xyz="0 0 0"/>
      <geometry>
        <mesh filename="package://iai_kitchen/meshes/handles/Handle60.dae"/>
      </geometry>
    </collision>
  </link>
  <joint name="oven_area_area_middle_lower_drawer_main_joint" type="prismatic">
    <origin rpy="0 0 0" xyz="0.0 -0. -0.315 "/>
    <parent link="oven_area_area"/>
    <child link="oven_area_area_middle_lower_drawer_main"/>
    <axis xyz="1. 0. 0.0"/>
    <limit effort="300" lower="0" upper="0.48" velocity="10"/>
    <!--
          <limit effort="300" lower="0" upper="0" velocity="10"/>
      -->
  </joint>
  <joint name="oven_area_area_middle_lower_drawer_handle_joint" type="fixed">
    <origin rpy="0 0 0" xyz="0.37 0 0.25"/>
    <parent link="oven_area_area_middle_lower_drawer_main"/>
    <child link="oven_area_area_middle_lower_drawer_handle"/>
    <axis xyz="0 0 1"/>
    <limit effort="300" lower="0" upper="1.57079632679" velocity="10"/>
  </joint>
  <joint name="oven_area_area_left_drawer_main_joint" type="prismatic">
    <origin rpy="0 0 0" xyz="0.29 -0.45 0.07 "/>
    <parent link="oven_area_area"/>
    <child link="oven_area_area_left_drawer_main"/>
    <axis xyz="1. 0. 0.0"/>
    <limit effort="300" lower="0" upper="0.48" velocity="10"/>
  </joint>
  <link name="oven_area_area_left_drawer_main">
    <inertial>
      <origin rpy="0 0 0" xyz="0.0 0.0 0.0"/>
      <mass value="1"/>
      <inertia ixx="1" ixy="0.0" ixz="0.0" iyy="1" iyz="0.0" izz="1"/>
    </inertial>
    <visual>
      <origin rpy="0 0 0" xyz="0 0 0"/>
      <geometry>
        <box size="0.025 0.295 1.325"/>
      </geometry>
    </visual>
    <collision>
      <origin rpy="0 0 0" xyz="0 0 0"/>
      <geometry>
        <box size="0.025 0.3 1.33"/>
      </geometry>
    </collision>
  </link>
  <joint name="oven_area_area_left_drawer_handle_joint" type="fixed">
    <origin rpy="-1.57079632679 0 0" xyz="0.08 0.0 0.0"/>
    <parent link="oven_area_area_left_drawer_main"/>
    <child link="oven_area_area_left_drawer_handle"/>
  </joint>
  <link name="oven_area_area_left_drawer_handle">
    <inertial>
      <origin rpy="0 0 0" xyz="0.0 0.0 0.0"/>
      <mass value="1"/>
      <inertia ixx="1" ixy="0.0" ixz="0.0" iyy="1" iyz="0.0" izz="1"/>
    </inertial>
    <visual>
      <origin rpy="1.57079632679 0 0" xyz="0 0 0"/>
      <geometry>
        <mesh filename="package://iai_kitchen/meshes/handles/VHandle130.dae"/>
      </geometry>
    </visual>
    <collision>
      <origin rpy="1.57079632679 0 0" xyz="0 0 0"/>
      <geometry>
        <mesh filename="package://iai_kitchen/meshes/handles/VHandle130.dae"/>
      </geometry>
    </collision>
  </link>
  <link name="oven_area_area_left_drawer_board_0_link">
    <inertial>
      <origin rpy="0 0 0" xyz="0.0 0.0 0.0"/>
      <mass value="1"/>
      <inertia ixx="1" ixy="0.0" ixz="0.0" iyy="1" iyz="0.0" izz="1"/>
    </inertial>
    <visual>
      <origin rpy="0 0 0" xyz="0 0 0"/>
      <geometry>
        <box size="0.49 0.25 0.016"/>
      </geometry>
    </visual>
    <collision>
      <origin rpy="0 0 0" xyz="0 0 0"/>
      <geometry>
        <box size="0.49 0.25 0.016"/>
      </geometry>
    </collision>
  </link>
  <joint name="oven_area_area_left_drawer_board_0_joint" type="fixed">
    <origin xyz="-0.25 0 -0.6"/>
    <parent link="oven_area_area_left_drawer_main"/>
    <child link="oven_area_area_left_drawer_board_0_link"/>
  </joint>
  <link name="oven_area_area_left_drawer_barrier_0_right_link">
    <inertial>
      <origin rpy="0 0 0" xyz="0.0 0.0 0.0"/>
      <mass value="1"/>
      <inertia ixx="1" ixy="0.0" ixz="0.0" iyy="1" iyz="0.0" izz="1"/>
    </inertial>
    <visual>
      <origin rpy="0 0 0" xyz="0 0 0"/>
      <geometry>
        <box size="0.49 0.016 0.082"/>
      </geometry>
    </visual>
    <collision>
      <origin rpy="0 0 0" xyz="0 0 0"/>
      <geometry>
        <box size="0.49 0.016 0.082"/>
      </geometry>
    </collision>
  </link>
  <joint name="oven_area_area_left_drawer_barrier_0_right_joint" type="fixed">
    <origin xyz="-0.25 -0.117 -0.567"/>
    <parent link="oven_area_area_left_drawer_main"/>
    <child link="oven_area_area_left_drawer_barrier_0_right_link"/>
  </joint>
  <link name="oven_area_area_left_drawer_barrier_0_left_link">
    <inertial>
      <origin rpy="0 0 0" xyz="0.0 0.0 0.0"/>
      <mass value="1"/>
      <inertia ixx="1" ixy="0.0" ixz="0.0" iyy="1" iyz="0.0" izz="1"/>
    </inertial>
    <visual>
      <origin rpy="0 0 0" xyz="0 0 0"/>
      <geometry>
        <box size="0.49 0.016 0.082"/>
      </geometry>
    </visual>
    <collision>
      <origin rpy="0 0 0" xyz="0 0 0"/>
      <geometry>
        <box size="0.49 0.016 0.082"/>
      </geometry>
    </collision>
  </link>
  <joint name="oven_area_area_left_drawer_barrier_0_left_joint" type="fixed">
    <origin xyz="-0.25 0.117 -0.567"/>
    <parent link="oven_area_area_left_drawer_main"/>
    <child link="oven_area_area_left_drawer_barrier_0_left_link"/>
  </joint>
  <link name="oven_area_area_left_drawer_barrier_0_back_link">
    <inertial>
      <origin rpy="0 0 0" xyz="0.0 0.0 0.0"/>
      <mass value="1"/>
      <inertia ixx="1" ixy="0.0" ixz="0.0" iyy="1" iyz="0.0" izz="1"/>
    </inertial>
    <visual>
      <origin rpy="0 0 0" xyz="0 0 0"/>
      <geometry>
        <box size="0.016 0.25 0.082"/>
      </geometry>
    </visual>
    <collision>
      <origin rpy="0 0 0" xyz="0 0 0"/>
      <geometry>
        <box size="0.016 0.25 0.082"/>
      </geometry>
    </collision>
  </link>
  <joint name="oven_area_area_left_drawer_barrier_0_back_joint" type="fixed">
    <origin xyz="-0.487 0 -0.567"/>
    <parent link="oven_area_area_left_drawer_main"/>
    <child link="oven_area_area_left_drawer_barrier_0_back_link"/>
  </joint>
  <link name="oven_area_area_left_drawer_board_1_link">
    <inertial>
      <origin rpy="0 0 0" xyz="0.0 0.0 0.0"/>
      <mass value="1"/>
      <inertia ixx="1" ixy="0.0" ixz="0.0" iyy="1" iyz="0.0" izz="1"/>
    </inertial>
    <visual>
      <origin rpy="0 0 0" xyz="0 0 0"/>
      <geometry>
        <box size="0.49 0.25 0.016"/>
      </geometry>
    </visual>
    <collision>
      <origin rpy="0 0 0" xyz="0 0 0"/>
      <geometry>
        <box size="0.49 0.25 0.016"/>
      </geometry>
    </collision>
  </link>
  <joint name="oven_area_area_left_drawer_board_1_joint" type="fixed">
    <origin xyz="-0.25 0 -0.28"/>
    <parent link="oven_area_area_left_drawer_main"/>
    <child link="oven_area_area_left_drawer_board_1_link"/>
  </joint>
  <link name="oven_area_area_left_drawer_barrier_1_right_link">
    <inertial>
      <origin rpy="0 0 0" xyz="0.0 0.0 0.0"/>
      <mass value="1"/>
      <inertia ixx="1" ixy="0.0" ixz="0.0" iyy="1" iyz="0.0" izz="1"/>
    </inertial>
    <visual>
      <origin rpy="0 0 0" xyz="0 0 0"/>
      <geometry>
        <box size="0.49 0.016 0.082"/>
      </geometry>
    </visual>
    <collision>
      <origin rpy="0 0 0" xyz="0 0 0"/>
      <geometry>
        <box size="0.49 0.016 0.082"/>
      </geometry>
    </collision>
  </link>
  <joint name="oven_area_area_left_drawer_barrier_1_right_joint" type="fixed">
    <origin xyz="-0.25 -0.117 -0.247"/>
    <parent link="oven_area_area_left_drawer_main"/>
    <child link="oven_area_area_left_drawer_barrier_1_right_link"/>
  </joint>
  <link name="oven_area_area_left_drawer_barrier_1_left_link">
    <inertial>
      <origin rpy="0 0 0" xyz="0.0 0.0 0.0"/>
      <mass value="1"/>
      <inertia ixx="1" ixy="0.0" ixz="0.0" iyy="1" iyz="0.0" izz="1"/>
    </inertial>
    <visual>
      <origin rpy="0 0 0" xyz="0 0 0"/>
      <geometry>
        <box size="0.49 0.016 0.082"/>
      </geometry>
    </visual>
    <collision>
      <origin rpy="0 0 0" xyz="0 0 0"/>
      <geometry>
        <box size="0.49 0.016 0.082"/>
      </geometry>
    </collision>
  </link>
  <joint name="oven_area_area_left_drawer_barrier_1_left_joint" type="fixed">
    <origin xyz="-0.25 0.117 -0.247"/>
    <parent link="oven_area_area_left_drawer_main"/>
    <child link="oven_area_area_left_drawer_barrier_1_left_link"/>
  </joint>
  <link name="oven_area_area_left_drawer_barrier_1_back_link">
    <inertial>
      <origin rpy="0 0 0" xyz="0.0 0.0 0.0"/>
      <mass value="1"/>
      <inertia ixx="1" ixy="0.0" ixz="0.0" iyy="1" iyz="0.0" izz="1"/>
    </inertial>
    <visual>
      <origin rpy="0 0 0" xyz="0 0 0"/>
      <geometry>
        <box size="0.016 0.25 0.082"/>
      </geometry>
    </visual>
    <collision>
      <origin rpy="0 0 0" xyz="0 0 0"/>
      <geometry>
        <box size="0.016 0.25 0.082"/>
      </geometry>
    </collision>
  </link>
  <joint name="oven_area_area_left_drawer_barrier_1_back_joint" type="fixed">
    <origin xyz="-0.487 0 -0.247"/>
    <parent link="oven_area_area_left_drawer_main"/>
    <child link="oven_area_area_left_drawer_barrier_1_back_link"/>
  </joint>
  <link name="oven_area_area_left_drawer_board_2_link">
    <inertial>
      <origin rpy="0 0 0" xyz="0.0 0.0 0.0"/>
      <mass value="1"/>
      <inertia ixx="1" ixy="0.0" ixz="0.0" iyy="1" iyz="0.0" izz="1"/>
    </inertial>
    <visual>
      <origin rpy="0 0 0" xyz="0 0 0"/>
      <geometry>
        <box size="0.49 0.25 0.016"/>
      </geometry>
    </visual>
    <collision>
      <origin rpy="0 0 0" xyz="0 0 0"/>
      <geometry>
        <box size="0.49 0.25 0.016"/>
      </geometry>
    </collision>
  </link>
  <joint name="oven_area_area_left_drawer_board_2_joint" type="fixed">
    <origin xyz="-0.25 0 0.05"/>
    <parent link="oven_area_area_left_drawer_main"/>
    <child link="oven_area_area_left_drawer_board_2_link"/>
  </joint>
  <link name="oven_area_area_left_drawer_barrier_2_right_link">
    <inertial>
      <origin rpy="0 0 0" xyz="0.0 0.0 0.0"/>
      <mass value="1"/>
      <inertia ixx="1" ixy="0.0" ixz="0.0" iyy="1" iyz="0.0" izz="1"/>
    </inertial>
    <visual>
      <origin rpy="0 0 0" xyz="0 0 0"/>
      <geometry>
        <box size="0.49 0.016 0.082"/>
      </geometry>
    </visual>
    <collision>
      <origin rpy="0 0 0" xyz="0 0 0"/>
      <geometry>
        <box size="0.49 0.016 0.082"/>
      </geometry>
    </collision>
  </link>
  <joint name="oven_area_area_left_drawer_barrier_2_right_joint" type="fixed">
    <origin xyz="-0.25 -0.117 0.083"/>
    <parent link="oven_area_area_left_drawer_main"/>
    <child link="oven_area_area_left_drawer_barrier_2_right_link"/>
  </joint>
  <link name="oven_area_area_left_drawer_barrier_2_left_link">
    <inertial>
      <origin rpy="0 0 0" xyz="0.0 0.0 0.0"/>
      <mass value="1"/>
      <inertia ixx="1" ixy="0.0" ixz="0.0" iyy="1" iyz="0.0" izz="1"/>
    </inertial>
    <visual>
      <origin rpy="0 0 0" xyz="0 0 0"/>
      <geometry>
        <box size="0.49 0.016 0.082"/>
      </geometry>
    </visual>
    <collision>
      <origin rpy="0 0 0" xyz="0 0 0"/>
      <geometry>
        <box size="0.49 0.016 0.082"/>
      </geometry>
    </collision>
  </link>
  <joint name="oven_area_area_left_drawer_barrier_2_left_joint" type="fixed">
    <origin xyz="-0.25 0.117 0.083"/>
    <parent link="oven_area_area_left_drawer_main"/>
    <child link="oven_area_area_left_drawer_barrier_2_left_link"/>
  </joint>
  <link name="oven_area_area_left_drawer_barrier_2_back_link">
    <inertial>
      <origin rpy="0 0 0" xyz="0.0 0.0 0.0"/>
      <mass value="1"/>
      <inertia ixx="1" ixy="0.0" ixz="0.0" iyy="1" iyz="0.0" izz="1"/>
    </inertial>
    <visual>
      <origin rpy="0 0 0" xyz="0 0 0"/>
      <geometry>
        <box size="0.016 0.25 0.082"/>
      </geometry>
    </visual>
    <collision>
      <origin rpy="0 0 0" xyz="0 0 0"/>
      <geometry>
        <box size="0.016 0.25 0.082"/>
      </geometry>
    </collision>
  </link>
  <joint name="oven_area_area_left_drawer_barrier_2_back_joint" type="fixed">
    <origin xyz="-0.487 0 0.083"/>
    <parent link="oven_area_area_left_drawer_main"/>
    <child link="oven_area_area_left_drawer_barrier_2_back_link"/>
  </joint>
  <link name="oven_area_area_left_drawer_board_3_link">
    <inertial>
      <origin rpy="0 0 0" xyz="0.0 0.0 0.0"/>
      <mass value="1"/>
      <inertia ixx="1" ixy="0.0" ixz="0.0" iyy="1" iyz="0.0" izz="1"/>
    </inertial>
    <visual>
      <origin rpy="0 0 0" xyz="0 0 0"/>
      <geometry>
        <box size="0.49 0.25 0.016"/>
      </geometry>
    </visual>
    <collision>
      <origin rpy="0 0 0" xyz="0 0 0"/>
      <geometry>
        <box size="0.49 0.25 0.016"/>
      </geometry>
    </collision>
  </link>
  <joint name="oven_area_area_left_drawer_board_3_joint" type="fixed">
    <origin xyz="-0.25 0 0.38"/>
    <parent link="oven_area_area_left_drawer_main"/>
    <child link="oven_area_area_left_drawer_board_3_link"/>
  </joint>
  <link name="oven_area_area_left_drawer_barrier_3_right_link">
    <inertial>
      <origin rpy="0 0 0" xyz="0.0 0.0 0.0"/>
      <mass value="1"/>
      <inertia ixx="1" ixy="0.0" ixz="0.0" iyy="1" iyz="0.0" izz="1"/>
    </inertial>
    <visual>
      <origin rpy="0 0 0" xyz="0 0 0"/>
      <geometry>
        <box size="0.49 0.016 0.082"/>
      </geometry>
    </visual>
    <collision>
      <origin rpy="0 0 0" xyz="0 0 0"/>
      <geometry>
        <box size="0.49 0.016 0.082"/>
      </geometry>
    </collision>
  </link>
  <joint name="oven_area_area_left_drawer_barrier_3_right_joint" type="fixed">
    <origin xyz="-0.25 -0.117 0.413"/>
    <parent link="oven_area_area_left_drawer_main"/>
    <child link="oven_area_area_left_drawer_barrier_3_right_link"/>
  </joint>
  <link name="oven_area_area_left_drawer_barrier_3_left_link">
    <inertial>
      <origin rpy="0 0 0" xyz="0.0 0.0 0.0"/>
      <mass value="1"/>
      <inertia ixx="1" ixy="0.0" ixz="0.0" iyy="1" iyz="0.0" izz="1"/>
    </inertial>
    <visual>
      <origin rpy="0 0 0" xyz="0 0 0"/>
      <geometry>
        <box size="0.49 0.016 0.082"/>
      </geometry>
    </visual>
    <collision>
      <origin rpy="0 0 0" xyz="0 0 0"/>
      <geometry>
        <box size="0.49 0.016 0.082"/>
      </geometry>
    </collision>
  </link>
  <joint name="oven_area_area_left_drawer_barrier_3_left_joint" type="fixed">
    <origin xyz="-0.25 0.117 0.413"/>
    <parent link="oven_area_area_left_drawer_main"/>
    <child link="oven_area_area_left_drawer_barrier_3_left_link"/>
  </joint>
  <link name="oven_area_area_left_drawer_barrier_3_back_link">
    <inertial>
      <origin rpy="0 0 0" xyz="0.0 0.0 0.0"/>
      <mass value="1"/>
      <inertia ixx="1" ixy="0.0" ixz="0.0" iyy="1" iyz="0.0" izz="1"/>
    </inertial>
    <visual>
      <origin rpy="0 0 0" xyz="0 0 0"/>
      <geometry>
        <box size="0.016 0.25 0.082"/>
      </geometry>
    </visual>
    <collision>
      <origin rpy="0 0 0" xyz="0 0 0"/>
      <geometry>
        <box size="0.016 0.25 0.082"/>
      </geometry>
    </collision>
  </link>
  <joint name="oven_area_area_left_drawer_barrier_3_back_joint" type="fixed">
    <origin xyz="-0.487 0 0.413"/>
    <parent link="oven_area_area_left_drawer_main"/>
    <child link="oven_area_area_left_drawer_barrier_3_back_link"/>
  </joint>
  <joint name="oven_area_area_right_drawer_main_joint" type="prismatic">
    <origin rpy="0 0 0" xyz="0.29 0.45 0.07"/>
    <parent link="oven_area_area"/>
    <child link="oven_area_area_right_drawer_main"/>
    <axis xyz="1. 0. 0.0"/>
    <limit effort="300" lower="0" upper="0.48" velocity="10"/>
  </joint>
  <link name="oven_area_area_right_drawer_main">
    <inertial>
      <origin rpy="0 0 0" xyz="0.0 0.0 0.0"/>
      <mass value="1"/>
      <inertia ixx="1" ixy="0.0" ixz="0.0" iyy="1" iyz="0.0" izz="1"/>
    </inertial>
    <visual>
      <origin rpy="0 0 0" xyz="0 0 0"/>
      <geometry>
        <box size="0.025 0.295 1.325"/>
      </geometry>
    </visual>
    <collision>
      <origin rpy="0 0 0" xyz="0 0 0"/>
      <geometry>
        <box size="0.025 0.3 1.33"/>
      </geometry>
    </collision>
  </link>
  <joint name="oven_area_area_right_drawer_handle_joint" type="fixed">
    <origin rpy="-1.57079632679 0 0" xyz="0.08 0.0 0.0"/>
    <parent link="oven_area_area_right_drawer_main"/>
    <child link="oven_area_area_right_drawer_handle"/>
  </joint>
  <link name="oven_area_area_right_drawer_handle">
    <inertial>
      <origin rpy="0 0 0" xyz="0.0 0.0 0.0"/>
      <mass value="1"/>
      <inertia ixx="1" ixy="0.0" ixz="0.0" iyy="1" iyz="0.0" izz="1"/>
    </inertial>
    <visual>
      <origin rpy="1.57079632679 0 0" xyz="0 0 0"/>
      <geometry>
        <mesh filename="package://iai_kitchen/meshes/handles/VHandle130.dae"/>
      </geometry>
    </visual>
    <collision>
      <origin rpy="1.57079632679 0 0" xyz="0 0 0"/>
      <geometry>
        <mesh filename="package://iai_kitchen/meshes/handles/VHandle130.dae"/>
      </geometry>
    </collision>
  </link>
  <link name="oven_area_area_right_drawer_board_0_link">
    <inertial>
      <origin rpy="0 0 0" xyz="0.0 0.0 0.0"/>
      <mass value="1"/>
      <inertia ixx="1" ixy="0.0" ixz="0.0" iyy="1" iyz="0.0" izz="1"/>
    </inertial>
    <visual>
      <origin rpy="0 0 0" xyz="0 0 0"/>
      <geometry>
        <box size="0.49 0.25 0.016"/>
      </geometry>
    </visual>
    <collision>
      <origin rpy="0 0 0" xyz="0 0 0"/>
      <geometry>
        <box size="0.49 0.25 0.016"/>
      </geometry>
    </collision>
  </link>
  <joint name="oven_area_area_right_drawer_board_0_joint" type="fixed">
    <origin xyz="-0.25 0 -0.6"/>
    <parent link="oven_area_area_right_drawer_main"/>
    <child link="oven_area_area_right_drawer_board_0_link"/>
  </joint>
  <link name="oven_area_area_right_drawer_barrier_0_right_link">
    <inertial>
      <origin rpy="0 0 0" xyz="0.0 0.0 0.0"/>
      <mass value="1"/>
      <inertia ixx="1" ixy="0.0" ixz="0.0" iyy="1" iyz="0.0" izz="1"/>
    </inertial>
    <visual>
      <origin rpy="0 0 0" xyz="0 0 0"/>
      <geometry>
        <box size="0.49 0.016 0.082"/>
      </geometry>
    </visual>
    <collision>
      <origin rpy="0 0 0" xyz="0 0 0"/>
      <geometry>
        <box size="0.49 0.016 0.082"/>
      </geometry>
    </collision>
  </link>
  <joint name="oven_area_area_right_drawer_barrier_0_right_joint" type="fixed">
    <origin xyz="-0.25 -0.117 -0.567"/>
    <parent link="oven_area_area_right_drawer_main"/>
    <child link="oven_area_area_right_drawer_barrier_0_right_link"/>
  </joint>
  <link name="oven_area_area_right_drawer_barrier_0_left_link">
    <inertial>
      <origin rpy="0 0 0" xyz="0.0 0.0 0.0"/>
      <mass value="1"/>
      <inertia ixx="1" ixy="0.0" ixz="0.0" iyy="1" iyz="0.0" izz="1"/>
    </inertial>
    <visual>
      <origin rpy="0 0 0" xyz="0 0 0"/>
      <geometry>
        <box size="0.49 0.016 0.082"/>
      </geometry>
    </visual>
    <collision>
      <origin rpy="0 0 0" xyz="0 0 0"/>
      <geometry>
        <box size="0.49 0.016 0.082"/>
      </geometry>
    </collision>
  </link>
  <joint name="oven_area_area_right_drawer_barrier_0_left_joint" type="fixed">
    <origin xyz="-0.25 0.117 -0.567"/>
    <parent link="oven_area_area_right_drawer_main"/>
    <child link="oven_area_area_right_drawer_barrier_0_left_link"/>
  </joint>
  <link name="oven_area_area_right_drawer_barrier_0_back_link">
    <inertial>
      <origin rpy="0 0 0" xyz="0.0 0.0 0.0"/>
      <mass value="1"/>
      <inertia ixx="1" ixy="0.0" ixz="0.0" iyy="1" iyz="0.0" izz="1"/>
    </inertial>
    <visual>
      <origin rpy="0 0 0" xyz="0 0 0"/>
      <geometry>
        <box size="0.016 0.25 0.082"/>
      </geometry>
    </visual>
    <collision>
      <origin rpy="0 0 0" xyz="0 0 0"/>
      <geometry>
        <box size="0.016 0.25 0.082"/>
      </geometry>
    </collision>
  </link>
  <joint name="oven_area_area_right_drawer_barrier_0_back_joint" type="fixed">
    <origin xyz="-0.487 0 -0.567"/>
    <parent link="oven_area_area_right_drawer_main"/>
    <child link="oven_area_area_right_drawer_barrier_0_back_link"/>
  </joint>
  <link name="oven_area_area_right_drawer_board_1_link">
    <inertial>
      <origin rpy="0 0 0" xyz="0.0 0.0 0.0"/>
      <mass value="1"/>
      <inertia ixx="1" ixy="0.0" ixz="0.0" iyy="1" iyz="0.0" izz="1"/>
    </inertial>
    <visual>
      <origin rpy="0 0 0" xyz="0 0 0"/>
      <geometry>
        <box size="0.49 0.25 0.016"/>
      </geometry>
    </visual>
    <collision>
      <origin rpy="0 0 0" xyz="0 0 0"/>
      <geometry>
        <box size="0.49 0.25 0.016"/>
      </geometry>
    </collision>
  </link>
  <joint name="oven_area_area_right_drawer_board_1_joint" type="fixed">
    <origin xyz="-0.25 0 -0.28"/>
    <parent link="oven_area_area_right_drawer_main"/>
    <child link="oven_area_area_right_drawer_board_1_link"/>
  </joint>
  <link name="oven_area_area_right_drawer_barrier_1_right_link">
    <inertial>
      <origin rpy="0 0 0" xyz="0.0 0.0 0.0"/>
      <mass value="1"/>
      <inertia ixx="1" ixy="0.0" ixz="0.0" iyy="1" iyz="0.0" izz="1"/>
    </inertial>
    <visual>
      <origin rpy="0 0 0" xyz="0 0 0"/>
      <geometry>
        <box size="0.49 0.016 0.082"/>
      </geometry>
    </visual>
    <collision>
      <origin rpy="0 0 0" xyz="0 0 0"/>
      <geometry>
        <box size="0.49 0.016 0.082"/>
      </geometry>
    </collision>
  </link>
  <joint name="oven_area_area_right_drawer_barrier_1_right_joint" type="fixed">
    <origin xyz="-0.25 -0.117 -0.247"/>
    <parent link="oven_area_area_right_drawer_main"/>
    <child link="oven_area_area_right_drawer_barrier_1_right_link"/>
  </joint>
  <link name="oven_area_area_right_drawer_barrier_1_left_link">
    <inertial>
      <origin rpy="0 0 0" xyz="0.0 0.0 0.0"/>
      <mass value="1"/>
      <inertia ixx="1" ixy="0.0" ixz="0.0" iyy="1" iyz="0.0" izz="1"/>
    </inertial>
    <visual>
      <origin rpy="0 0 0" xyz="0 0 0"/>
      <geometry>
        <box size="0.49 0.016 0.082"/>
      </geometry>
    </visual>
    <collision>
      <origin rpy="0 0 0" xyz="0 0 0"/>
      <geometry>
        <box size="0.49 0.016 0.082"/>
      </geometry>
    </collision>
  </link>
  <joint name="oven_area_area_right_drawer_barrier_1_left_joint" type="fixed">
    <origin xyz="-0.25 0.117 -0.247"/>
    <parent link="oven_area_area_right_drawer_main"/>
    <child link="oven_area_area_right_drawer_barrier_1_left_link"/>
  </joint>
  <link name="oven_area_area_right_drawer_barrier_1_back_link">
    <inertial>
      <origin rpy="0 0 0" xyz="0.0 0.0 0.0"/>
      <mass value="1"/>
      <inertia ixx="1" ixy="0.0" ixz="0.0" iyy="1" iyz="0.0" izz="1"/>
    </inertial>
    <visual>
      <origin rpy="0 0 0" xyz="0 0 0"/>
      <geometry>
        <box size="0.016 0.25 0.082"/>
      </geometry>
    </visual>
    <collision>
      <origin rpy="0 0 0" xyz="0 0 0"/>
      <geometry>
        <box size="0.016 0.25 0.082"/>
      </geometry>
    </collision>
  </link>
  <joint name="oven_area_area_right_drawer_barrier_1_back_joint" type="fixed">
    <origin xyz="-0.487 0 -0.247"/>
    <parent link="oven_area_area_right_drawer_main"/>
    <child link="oven_area_area_right_drawer_barrier_1_back_link"/>
  </joint>
  <link name="oven_area_area_right_drawer_board_2_link">
    <inertial>
      <origin rpy="0 0 0" xyz="0.0 0.0 0.0"/>
      <mass value="1"/>
      <inertia ixx="1" ixy="0.0" ixz="0.0" iyy="1" iyz="0.0" izz="1"/>
    </inertial>
    <visual>
      <origin rpy="0 0 0" xyz="0 0 0"/>
      <geometry>
        <box size="0.49 0.25 0.016"/>
      </geometry>
    </visual>
    <collision>
      <origin rpy="0 0 0" xyz="0 0 0"/>
      <geometry>
        <box size="0.49 0.25 0.016"/>
      </geometry>
    </collision>
  </link>
  <joint name="oven_area_area_right_drawer_board_2_joint" type="fixed">
    <origin xyz="-0.25 0 0.05"/>
    <parent link="oven_area_area_right_drawer_main"/>
    <child link="oven_area_area_right_drawer_board_2_link"/>
  </joint>
  <link name="oven_area_area_right_drawer_barrier_2_right_link">
    <inertial>
      <origin rpy="0 0 0" xyz="0.0 0.0 0.0"/>
      <mass value="1"/>
      <inertia ixx="1" ixy="0.0" ixz="0.0" iyy="1" iyz="0.0" izz="1"/>
    </inertial>
    <visual>
      <origin rpy="0 0 0" xyz="0 0 0"/>
      <geometry>
        <box size="0.49 0.016 0.082"/>
      </geometry>
    </visual>
    <collision>
      <origin rpy="0 0 0" xyz="0 0 0"/>
      <geometry>
        <box size="0.49 0.016 0.082"/>
      </geometry>
    </collision>
  </link>
  <joint name="oven_area_area_right_drawer_barrier_2_right_joint" type="fixed">
    <origin xyz="-0.25 -0.117 0.083"/>
    <parent link="oven_area_area_right_drawer_main"/>
    <child link="oven_area_area_right_drawer_barrier_2_right_link"/>
  </joint>
  <link name="oven_area_area_right_drawer_barrier_2_left_link">
    <inertial>
      <origin rpy="0 0 0" xyz="0.0 0.0 0.0"/>
      <mass value="1"/>
      <inertia ixx="1" ixy="0.0" ixz="0.0" iyy="1" iyz="0.0" izz="1"/>
    </inertial>
    <visual>
      <origin rpy="0 0 0" xyz="0 0 0"/>
      <geometry>
        <box size="0.49 0.016 0.082"/>
      </geometry>
    </visual>
    <collision>
      <origin rpy="0 0 0" xyz="0 0 0"/>
      <geometry>
        <box size="0.49 0.016 0.082"/>
      </geometry>
    </collision>
  </link>
  <joint name="oven_area_area_right_drawer_barrier_2_left_joint" type="fixed">
    <origin xyz="-0.25 0.117 0.083"/>
    <parent link="oven_area_area_right_drawer_main"/>
    <child link="oven_area_area_right_drawer_barrier_2_left_link"/>
  </joint>
  <link name="oven_area_area_right_drawer_barrier_2_back_link">
    <inertial>
      <origin rpy="0 0 0" xyz="0.0 0.0 0.0"/>
      <mass value="1"/>
      <inertia ixx="1" ixy="0.0" ixz="0.0" iyy="1" iyz="0.0" izz="1"/>
    </inertial>
    <visual>
      <origin rpy="0 0 0" xyz="0 0 0"/>
      <geometry>
        <box size="0.016 0.25 0.082"/>
      </geometry>
    </visual>
    <collision>
      <origin rpy="0 0 0" xyz="0 0 0"/>
      <geometry>
        <box size="0.016 0.25 0.082"/>
      </geometry>
    </collision>
  </link>
  <joint name="oven_area_area_right_drawer_barrier_2_back_joint" type="fixed">
    <origin xyz="-0.487 0 0.083"/>
    <parent link="oven_area_area_right_drawer_main"/>
    <child link="oven_area_area_right_drawer_barrier_2_back_link"/>
  </joint>
  <link name="oven_area_area_right_drawer_board_3_link">
    <inertial>
      <origin rpy="0 0 0" xyz="0.0 0.0 0.0"/>
      <mass value="1"/>
      <inertia ixx="1" ixy="0.0" ixz="0.0" iyy="1" iyz="0.0" izz="1"/>
    </inertial>
    <visual>
      <origin rpy="0 0 0" xyz="0 0 0"/>
      <geometry>
        <box size="0.49 0.25 0.016"/>
      </geometry>
    </visual>
    <collision>
      <origin rpy="0 0 0" xyz="0 0 0"/>
      <geometry>
        <box size="0.49 0.25 0.016"/>
      </geometry>
    </collision>
  </link>
  <joint name="oven_area_area_right_drawer_board_3_joint" type="fixed">
    <origin xyz="-0.25 0 0.38"/>
    <parent link="oven_area_area_right_drawer_main"/>
    <child link="oven_area_area_right_drawer_board_3_link"/>
  </joint>
  <link name="oven_area_area_right_drawer_barrier_3_right_link">
    <inertial>
      <origin rpy="0 0 0" xyz="0.0 0.0 0.0"/>
      <mass value="1"/>
      <inertia ixx="1" ixy="0.0" ixz="0.0" iyy="1" iyz="0.0" izz="1"/>
    </inertial>
    <visual>
      <origin rpy="0 0 0" xyz="0 0 0"/>
      <geometry>
        <box size="0.49 0.016 0.082"/>
      </geometry>
    </visual>
    <collision>
      <origin rpy="0 0 0" xyz="0 0 0"/>
      <geometry>
        <box size="0.49 0.016 0.082"/>
      </geometry>
    </collision>
  </link>
  <joint name="oven_area_area_right_drawer_barrier_3_right_joint" type="fixed">
    <origin xyz="-0.25 -0.117 0.413"/>
    <parent link="oven_area_area_right_drawer_main"/>
    <child link="oven_area_area_right_drawer_barrier_3_right_link"/>
  </joint>
  <link name="oven_area_area_right_drawer_barrier_3_left_link">
    <inertial>
      <origin rpy="0 0 0" xyz="0.0 0.0 0.0"/>
      <mass value="1"/>
      <inertia ixx="1" ixy="0.0" ixz="0.0" iyy="1" iyz="0.0" izz="1"/>
    </inertial>
    <visual>
      <origin rpy="0 0 0" xyz="0 0 0"/>
      <geometry>
        <box size="0.49 0.016 0.082"/>
      </geometry>
    </visual>
    <collision>
      <origin rpy="0 0 0" xyz="0 0 0"/>
      <geometry>
        <box size="0.49 0.016 0.082"/>
      </geometry>
    </collision>
  </link>
  <joint name="oven_area_area_right_drawer_barrier_3_left_joint" type="fixed">
    <origin xyz="-0.25 0.117 0.413"/>
    <parent link="oven_area_area_right_drawer_main"/>
    <child link="oven_area_area_right_drawer_barrier_3_left_link"/>
  </joint>
  <link name="oven_area_area_right_drawer_barrier_3_back_link">
    <inertial>
      <origin rpy="0 0 0" xyz="0.0 0.0 0.0"/>
      <mass value="1"/>
      <inertia ixx="1" ixy="0.0" ixz="0.0" iyy="1" iyz="0.0" izz="1"/>
    </inertial>
    <visual>
      <origin rpy="0 0 0" xyz="0 0 0"/>
      <geometry>
        <box size="0.016 0.25 0.082"/>
      </geometry>
    </visual>
    <collision>
      <origin rpy="0 0 0" xyz="0 0 0"/>
      <geometry>
        <box size="0.016 0.25 0.082"/>
      </geometry>
    </collision>
  </link>
  <joint name="oven_area_area_right_drawer_barrier_3_back_joint" type="fixed">
    <origin xyz="-0.487 0 0.413"/>
    <parent link="oven_area_area_right_drawer_main"/>
    <child link="oven_area_area_right_drawer_barrier_3_back_link"/>
  </joint>
  <link name="kitchen_island_footprint">
    <inertial>
      <origin rpy="0 0 0" xyz="0.0 0.0 0.0"/>
      <mass value="1"/>
      <inertia ixx="1" ixy="0.0" ixz="0.0" iyy="1" iyz="0.0" izz="1"/>
    </inertial>
  </link>
  <link name="kitchen_island">
    <inertial>
      <origin rpy="0 0 0" xyz="0.0 0.0 0.0"/>
      <mass value="1"/>
      <inertia ixx="1" ixy="0.0" ixz="0.0" iyy="1" iyz="0.0" izz="1"/>
    </inertial>
    <visual>
      <origin rpy="0 0 0" xyz="0 0 0"/>
      <geometry>
        <mesh filename="package://iai_kitchen/meshes/racks/IslandArea.dae"/>
      </geometry>
    </visual>
    <collision>
      <origin rpy="0 0 0" xyz="0 0 0"/>
      <geometry>
        <mesh filename="package://iai_kitchen/meshes/racks/IslandArea.dae"/>
      </geometry>
    </collision>
  </link>
  <joint name="kitchen_island_footprint_joint" type="fixed">
    <origin rpy="0 0 0" xyz="-1.365 0.59 0"/>
    <child link="kitchen_island_footprint"/>
    <parent link="room_link"/>
  </joint>
  <joint name="kitchen_island_joint" type="fixed">
    <origin rpy="0 0 0" xyz="0.2975 1.1292 0.421"/>
    <parent link="kitchen_island_footprint"/>
    <child link="kitchen_island"/>
  </joint>
  <link name="kitchen_island_surface">
    <inertial>
      <origin rpy="0 0 0" xyz="0.0 0.0 0.0"/>
      <mass value="1"/>
      <inertia ixx="1" ixy="0.0" ixz="0.0" iyy="1" iyz="0.0" izz="1"/>
    </inertial>
    <collision>
      <origin rpy="0 0 0" xyz="0 0 0"/>
      <geometry>
        <box size="0.8 2.45 0.02"/>
      </geometry>
    </collision>
  </link>
  <joint name="kitchen_island_surface_joint" type="fixed">
    <origin rpy="0 0 0" xyz="0.0 0. 0.42"/>
    <parent link="kitchen_island"/>
    <child link="kitchen_island_surface"/>
  </joint>
  <link name="kitchen_island_stove">
    <inertial>
      <origin rpy="0 0 0" xyz="0.0 0.0 0.0"/>
      <mass value="1"/>
      <inertia ixx="1" ixy="0.0" ixz="0.0" iyy="1" iyz="0.0" izz="1"/>
    </inertial>
    <visual>
      <origin rpy="0 0 0" xyz="0 0 0"/>
      <geometry>
        <mesh filename="package://iai_kitchen/meshes/misc/Stove.dae"/>
      </geometry>
    </visual>
    <collision>
      <origin rpy="0 0 0" xyz="0 0 0"/>
      <geometry>
        <mesh filename="package://iai_kitchen/meshes/misc/Stove.dae"/>
      </geometry>
    </collision>
  </link>
  <joint name="kitchen_island_stove_joint" type="fixed">
    <origin rpy="0 0 0" xyz="0.0 0.7658 0.4315"/>
    <parent link="kitchen_island"/>
    <child link="kitchen_island_stove"/>
  </joint>
  <link name="kitchen_island_left_panel">
    <inertial>
      <origin rpy="0 0 0" xyz="0.0 0.0 0.0"/>
      <mass value="1"/>
      <inertia ixx="1" ixy="0.0" ixz="0.0" iyy="1" iyz="0.0" izz="1"/>
    </inertial>
    <visual>
      <origin rpy="0 0 0" xyz="0 0 0"/>
      <geometry>
        <mesh filename="package://iai_kitchen/meshes/drawers/Panel_60.dae"/>
      </geometry>
    </visual>
    <collision>
      <origin rpy="0 0 0" xyz="0 0 0"/>
      <geometry>
        <mesh filename="package://iai_kitchen/meshes/drawers/Panel_60.dae"/>
      </geometry>
    </collision>
  </link>
  <joint name="kitchen_island_left_panel_joint" type="fixed">
    <origin rpy="0 0 0" xyz="0.2725 -0.8 0.329 "/>
    <parent link="kitchen_island"/>
    <child link="kitchen_island_left_panel"/>
  </joint>
  <link name="kitchen_island_left_upper_drawer_main">
    <inertial>
      <origin rpy="0 0 0" xyz="0.0 0.0 0.0"/>
      <mass value="1"/>
      <inertia ixx="1" ixy="0.0" ixz="0.0" iyy="1" iyz="0.0" izz="1"/>
    </inertial>
    <visual>
      <origin rpy="0 0 0" xyz="0 0 0"/>
      <geometry>
        <mesh filename="package://iai_kitchen/meshes/drawers/Drawer_60_29.dae"/>
      </geometry>
    </visual>
    <collision>
      <origin rpy="0 0 0" xyz="0 0 0"/>
      <geometry>
        <mesh filename="package://iai_kitchen/meshes/drawers/Drawer_60_29.dae"/>
      </geometry>
    </collision>
  </link>
  <link name="kitchen_island_left_upper_drawer_handle">
    <inertial>
      <origin rpy="0 0 0" xyz="0.0 0.0 0.0"/>
      <mass value="1"/>
      <inertia ixx="1" ixy="0.0" ixz="0.0" iyy="1" iyz="0.0" izz="1"/>
    </inertial>
    <visual>
      <origin rpy="0 0 0" xyz="0 0 0"/>
      <geometry>
        <mesh filename="package://iai_kitchen/meshes/handles/Handle60.dae"/>
      </geometry>
    </visual>
    <collision>
      <origin rpy="0 0 0" xyz="0 0 0"/>
      <geometry>
        <mesh filename="package://iai_kitchen/meshes/handles/Handle60.dae"/>
      </geometry>
    </collision>
  </link>
  <joint name="kitchen_island_left_upper_drawer_main_joint" type="prismatic">
    <origin rpy="0 0 0" xyz="0.0025 -0.8 0.114 "/>
    <parent link="kitchen_island"/>
    <child link="kitchen_island_left_upper_drawer_main"/>
    <axis xyz="1. 0. 0.0"/>
    <limit effort="300" lower="0" upper="0.48" velocity="10"/>
    <!--
          <limit effort="300" lower="0" upper="0" velocity="10"/>
      -->
  </joint>
  <joint name="kitchen_island_left_upper_drawer_handle_joint" type="fixed">
    <origin rpy="0 0 0" xyz="0.3525 0 0.11"/>
    <parent link="kitchen_island_left_upper_drawer_main"/>
    <child link="kitchen_island_left_upper_drawer_handle"/>
    <axis xyz="0 0 1"/>
    <limit effort="300" lower="0" upper="1.57079632679" velocity="10"/>
  </joint>
  <link name="kitchen_island_left_lower_drawer_main">
    <inertial>
      <origin rpy="0 0 0" xyz="0.0 0.0 0.0"/>
      <mass value="1"/>
      <inertia ixx="1" ixy="0.0" ixz="0.0" iyy="1" iyz="0.0" izz="1"/>
    </inertial>
    <visual>
      <origin rpy="0 0 0" xyz="0 0 0"/>
      <geometry>
        <mesh filename="package://iai_kitchen/meshes/drawers/Drawer_60_29.dae"/>
      </geometry>
    </visual>
    <collision>
      <origin rpy="0 0 0" xyz="0 0 0"/>
      <geometry>
        <mesh filename="package://iai_kitchen/meshes/drawers/Drawer_60_29.dae"/>
      </geometry>
    </collision>
  </link>
  <link name="kitchen_island_left_lower_drawer_handle">
    <inertial>
      <origin rpy="0 0 0" xyz="0.0 0.0 0.0"/>
      <mass value="1"/>
      <inertia ixx="1" ixy="0.0" ixz="0.0" iyy="1" iyz="0.0" izz="1"/>
    </inertial>
    <visual>
      <origin rpy="0 0 0" xyz="0 0 0"/>
      <geometry>
        <mesh filename="package://iai_kitchen/meshes/handles/Handle60.dae"/>
      </geometry>
    </visual>
    <collision>
      <origin rpy="0 0 0" xyz="0 0 0"/>
      <geometry>
        <mesh filename="package://iai_kitchen/meshes/handles/Handle60.dae"/>
      </geometry>
    </collision>
  </link>
  <joint name="kitchen_island_left_lower_drawer_main_joint" type="prismatic">
    <origin rpy="0 0 0" xyz="0.0025 -0.8 -0.176 "/>
    <parent link="kitchen_island"/>
    <child link="kitchen_island_left_lower_drawer_main"/>
    <axis xyz="1. 0. 0.0"/>
    <limit effort="300" lower="0" upper="0.48" velocity="10"/>
    <!--
          <limit effort="300" lower="0" upper="0" velocity="10"/>
      -->
  </joint>
  <joint name="kitchen_island_left_lower_drawer_handle_joint" type="fixed">
    <origin rpy="0 0 0" xyz="0.3525 0 0.11"/>
    <parent link="kitchen_island_left_lower_drawer_main"/>
    <child link="kitchen_island_left_lower_drawer_handle"/>
    <axis xyz="0 0 1"/>
    <limit effort="300" lower="0" upper="1.57079632679" velocity="10"/>
  </joint>
  <link name="kitchen_island_middle_panel">
    <inertial>
      <origin rpy="0 0 0" xyz="0.0 0.0 0.0"/>
      <mass value="1"/>
      <inertia ixx="1" ixy="0.0" ixz="0.0" iyy="1" iyz="0.0" izz="1"/>
    </inertial>
    <visual>
      <origin rpy="0 0 0" xyz="0 0 0"/>
      <geometry>
        <mesh filename="package://iai_kitchen/meshes/drawers/Panel_100.dae"/>
      </geometry>
    </visual>
    <collision>
      <origin rpy="0 0 0" xyz="0 0 0"/>
      <geometry>
        <mesh filename="package://iai_kitchen/meshes/drawers/Panel_100.dae"/>
      </geometry>
    </collision>
  </link>
  <joint name="kitchen_island_middle_panel_joint" type="fixed">
    <origin rpy="0 0 0" xyz="0.2725 0 0.329 "/>
    <parent link="kitchen_island"/>
    <child link="kitchen_island_middle_panel"/>
  </joint>
  <link name="kitchen_island_middle_upper_drawer_main">
    <inertial>
      <origin rpy="0 0 0" xyz="0.0 0.0 0.0"/>
      <mass value="1"/>
      <inertia ixx="1" ixy="0.0" ixz="0.0" iyy="1" iyz="0.0" izz="1"/>
    </inertial>
    <visual>
      <origin rpy="0 0 0" xyz="0 0 0"/>
      <geometry>
        <mesh filename="package://iai_kitchen/meshes/drawers/Drawer_100_29.dae"/>
      </geometry>
    </visual>
    <collision>
      <origin rpy="0 0 0" xyz="0 0 0"/>
      <geometry>
        <mesh filename="package://iai_kitchen/meshes/drawers/Drawer_100_29.dae"/>
      </geometry>
    </collision>
  </link>
  <link name="kitchen_island_middle_upper_drawer_handle">
    <inertial>
      <origin rpy="0 0 0" xyz="0.0 0.0 0.0"/>
      <mass value="1"/>
      <inertia ixx="1" ixy="0.0" ixz="0.0" iyy="1" iyz="0.0" izz="1"/>
    </inertial>
    <visual>
      <origin rpy="0 0 0" xyz="0 0 0"/>
      <geometry>
        <mesh filename="package://iai_kitchen/meshes/handles/Handle100.dae"/>
      </geometry>
    </visual>
    <collision>
      <origin rpy="0 0 0" xyz="0 0 0"/>
      <geometry>
        <mesh filename="package://iai_kitchen/meshes/handles/Handle100.dae"/>
      </geometry>
    </collision>
  </link>
  <joint name="kitchen_island_middle_upper_drawer_main_joint" type="prismatic">
    <origin rpy="0 0 0" xyz="0.0025 0 0.114 "/>
    <parent link="kitchen_island"/>
    <child link="kitchen_island_middle_upper_drawer_main"/>
    <axis xyz="1. 0. 0.0"/>
    <limit effort="300" lower="0" upper="0.48" velocity="10"/>
    <!--
          <limit effort="300" lower="0" upper="0" velocity="10"/>
      -->
  </joint>
  <joint name="kitchen_island_middle_upper_drawer_handle_joint" type="fixed">
    <origin rpy="0 0 0" xyz="0.3525 0 0.11"/>
    <parent link="kitchen_island_middle_upper_drawer_main"/>
    <child link="kitchen_island_middle_upper_drawer_handle"/>
    <axis xyz="0 0 1"/>
    <limit effort="300" lower="0" upper="1.57079632679" velocity="10"/>
  </joint>
  <link name="kitchen_island_middle_lower_drawer_main">
    <inertial>
      <origin rpy="0 0 0" xyz="0.0 0.0 0.0"/>
      <mass value="1"/>
      <inertia ixx="1" ixy="0.0" ixz="0.0" iyy="1" iyz="0.0" izz="1"/>
    </inertial>
    <visual>
      <origin rpy="0 0 0" xyz="0 0 0"/>
      <geometry>
        <mesh filename="package://iai_kitchen/meshes/drawers/Drawer_100_29.dae"/>
      </geometry>
    </visual>
    <collision>
      <origin rpy="0 0 0" xyz="0 0 0"/>
      <geometry>
        <mesh filename="package://iai_kitchen/meshes/drawers/Drawer_100_29.dae"/>
      </geometry>
    </collision>
  </link>
  <link name="kitchen_island_middle_lower_drawer_handle">
    <inertial>
      <origin rpy="0 0 0" xyz="0.0 0.0 0.0"/>
      <mass value="1"/>
      <inertia ixx="1" ixy="0.0" ixz="0.0" iyy="1" iyz="0.0" izz="1"/>
    </inertial>
    <visual>
      <origin rpy="0 0 0" xyz="0 0 0"/>
      <geometry>
        <mesh filename="package://iai_kitchen/meshes/handles/Handle100.dae"/>
      </geometry>
    </visual>
    <collision>
      <origin rpy="0 0 0" xyz="0 0 0"/>
      <geometry>
        <mesh filename="package://iai_kitchen/meshes/handles/Handle100.dae"/>
      </geometry>
    </collision>
  </link>
  <joint name="kitchen_island_middle_lower_drawer_main_joint" type="prismatic">
    <origin rpy="0 0 0" xyz="0.0025 0 -0.176 "/>
    <parent link="kitchen_island"/>
    <child link="kitchen_island_middle_lower_drawer_main"/>
    <axis xyz="1. 0. 0.0"/>
    <limit effort="300" lower="0" upper="0.48" velocity="10"/>
    <!--
          <limit effort="300" lower="0" upper="0" velocity="10"/>
      -->
  </joint>
  <joint name="kitchen_island_middle_lower_drawer_handle_joint" type="fixed">
    <origin rpy="0 0 0" xyz="0.3525 0 0.11"/>
    <parent link="kitchen_island_middle_lower_drawer_main"/>
    <child link="kitchen_island_middle_lower_drawer_handle"/>
    <axis xyz="0 0 1"/>
    <limit effort="300" lower="0" upper="1.57079632679" velocity="10"/>
  </joint>
  <link name="kitchen_island_right_panel">
    <inertial>
      <origin rpy="0 0 0" xyz="0.0 0.0 0.0"/>
      <mass value="1"/>
      <inertia ixx="1" ixy="0.0" ixz="0.0" iyy="1" iyz="0.0" izz="1"/>
    </inertial>
    <visual>
      <origin rpy="0 0 0" xyz="0 0 0"/>
      <geometry>
        <mesh filename="package://iai_kitchen/meshes/drawers/Panel_60.dae"/>
      </geometry>
    </visual>
    <collision>
      <origin rpy="0 0 0" xyz="0 0 0"/>
      <geometry>
        <mesh filename="package://iai_kitchen/meshes/drawers/Panel_60.dae"/>
      </geometry>
    </collision>
  </link>
  <joint name="kitchen_island_right_panel_joint" type="fixed">
    <origin rpy="0 0 0" xyz="0.2725 0.8 0.329 "/>
    <parent link="kitchen_island"/>
    <child link="kitchen_island_right_panel"/>
  </joint>
  <link name="kitchen_island_right_upper_drawer_main">
    <inertial>
      <origin rpy="0 0 0" xyz="0.0 0.0 0.0"/>
      <mass value="1"/>
      <inertia ixx="1" ixy="0.0" ixz="0.0" iyy="1" iyz="0.0" izz="1"/>
    </inertial>
    <visual>
      <origin rpy="0 0 0" xyz="0 0 0"/>
      <geometry>
        <mesh filename="package://iai_kitchen/meshes/drawers/Drawer_60_29.dae"/>
      </geometry>
    </visual>
    <collision>
      <origin rpy="0 0 0" xyz="0 0 0"/>
      <geometry>
        <mesh filename="package://iai_kitchen/meshes/drawers/Drawer_60_29.dae"/>
      </geometry>
    </collision>
  </link>
  <link name="kitchen_island_right_upper_drawer_handle">
    <inertial>
      <origin rpy="0 0 0" xyz="0.0 0.0 0.0"/>
      <mass value="1"/>
      <inertia ixx="1" ixy="0.0" ixz="0.0" iyy="1" iyz="0.0" izz="1"/>
    </inertial>
    <visual>
      <origin rpy="0 0 0" xyz="0 0 0"/>
      <geometry>
        <mesh filename="package://iai_kitchen/meshes/handles/Handle60.dae"/>
      </geometry>
    </visual>
    <collision>
      <origin rpy="0 0 0" xyz="0 0 0"/>
      <geometry>
        <mesh filename="package://iai_kitchen/meshes/handles/Handle60.dae"/>
      </geometry>
    </collision>
  </link>
  <joint name="kitchen_island_right_upper_drawer_main_joint" type="prismatic">
    <origin rpy="0 0 0" xyz="0.0025 0.8 0.114 "/>
    <parent link="kitchen_island"/>
    <child link="kitchen_island_right_upper_drawer_main"/>
    <axis xyz="1. 0. 0.0"/>
    <limit effort="300" lower="0" upper="0.48" velocity="10"/>
    <!--
          <limit effort="300" lower="0" upper="0" velocity="10"/>
      -->
  </joint>
  <joint name="kitchen_island_right_upper_drawer_handle_joint" type="fixed">
    <origin rpy="0 0 0" xyz="0.3525 0 0.11"/>
    <parent link="kitchen_island_right_upper_drawer_main"/>
    <child link="kitchen_island_right_upper_drawer_handle"/>
    <axis xyz="0 0 1"/>
    <limit effort="300" lower="0" upper="1.57079632679" velocity="10"/>
  </joint>
  <link name="kitchen_island_right_lower_drawer_main">
    <inertial>
      <origin rpy="0 0 0" xyz="0.0 0.0 0.0"/>
      <mass value="1"/>
      <inertia ixx="1" ixy="0.0" ixz="0.0" iyy="1" iyz="0.0" izz="1"/>
    </inertial>
    <visual>
      <origin rpy="0 0 0" xyz="0 0 0"/>
      <geometry>
        <mesh filename="package://iai_kitchen/meshes/drawers/Drawer_60_29.dae"/>
      </geometry>
    </visual>
    <collision>
      <origin rpy="0 0 0" xyz="0 0 0"/>
      <geometry>
        <mesh filename="package://iai_kitchen/meshes/drawers/Drawer_60_29.dae"/>
      </geometry>
    </collision>
  </link>
  <link name="kitchen_island_right_lower_drawer_handle">
    <inertial>
      <origin rpy="0 0 0" xyz="0.0 0.0 0.0"/>
      <mass value="1"/>
      <inertia ixx="1" ixy="0.0" ixz="0.0" iyy="1" iyz="0.0" izz="1"/>
    </inertial>
    <visual>
      <origin rpy="0 0 0" xyz="0 0 0"/>
      <geometry>
        <mesh filename="package://iai_kitchen/meshes/handles/Handle60.dae"/>
      </geometry>
    </visual>
    <collision>
      <origin rpy="0 0 0" xyz="0 0 0"/>
      <geometry>
        <mesh filename="package://iai_kitchen/meshes/handles/Handle60.dae"/>
      </geometry>
    </collision>
  </link>
  <joint name="kitchen_island_right_lower_drawer_main_joint" type="prismatic">
    <origin rpy="0 0 0" xyz="0.0025 0.8 -0.176 "/>
    <parent link="kitchen_island"/>
    <child link="kitchen_island_right_lower_drawer_main"/>
    <axis xyz="1. 0. 0.0"/>
    <limit effort="300" lower="0" upper="0.48" velocity="10"/>
    <!--
          <limit effort="300" lower="0" upper="0" velocity="10"/>
      -->
  </joint>
  <joint name="kitchen_island_right_lower_drawer_handle_joint" type="fixed">
    <origin rpy="0 0 0" xyz="0.3525 0 0.11"/>
    <parent link="kitchen_island_right_lower_drawer_main"/>
    <child link="kitchen_island_right_lower_drawer_handle"/>
    <axis xyz="0 0 1"/>
    <limit effort="300" lower="0" upper="1.57079632679" velocity="10"/>
  </joint>
  <link name="fridge_area_footprint">
    <inertial>
      <origin rpy="0 0 0" xyz="0.0 0.0 0.0"/>
      <mass value="1"/>
      <inertia ixx="1" ixy="0.0" ixz="0.0" iyy="1" iyz="0.0" izz="1"/>
    </inertial>
  </link>
  <link name="fridge_area">
    <inertial>
      <origin rpy="0 0 0" xyz="0.0 0.0 0.0"/>
      <mass value="1"/>
      <inertia ixx="1" ixy="0.0" ixz="0.0" iyy="1" iyz="0.0" izz="1"/>
    </inertial>
    <visual>
      <origin rpy="0 0 0" xyz="0 0 0.01"/>
      <geometry>
        <mesh filename="package://iai_kitchen/meshes/racks/FridgeArea.dae"/>
      </geometry>
    </visual>
    <collision>
      <origin rpy="0 0 0" xyz="0 0 0.01"/>
      <geometry>
        <mesh filename="package://iai_kitchen/meshes/racks/FridgeArea.dae"/>
        <!--mesh filename="package://iai_kitchen/meshes/collision/kitchen_fridge.stl"/-->
      </geometry>
    </collision>
  </link>
  <joint name="fridge_area_footprint_joint" type="fixed">
    <origin rpy="0 0 3.14159265359" xyz="1.845 -0.73 0"/>
    <child link="fridge_area_footprint"/>
    <parent link="room_link"/>
  </joint>
  <joint name="fridge_area_main_joint" type="fixed">
    <origin rpy="0 0 0" xyz="0.29 0.3 0.74"/>
    <parent link="fridge_area_footprint"/>
    <child link="fridge_area"/>
  </joint>
  <link name="fridge_area_lower_drawer_main">
    <inertial>
      <origin rpy="0 0 0" xyz="0.0 0.0 0.0"/>
      <mass value="1"/>
      <inertia ixx="1" ixy="0.0" ixz="0.0" iyy="1" iyz="0.0" izz="1"/>
    </inertial>
    <visual>
      <origin rpy="0 0 0" xyz="0 0 0"/>
      <geometry>
        <mesh filename="package://iai_kitchen/meshes/drawers/Drawer_60_29.dae"/>
      </geometry>
    </visual>
    <collision>
      <origin rpy="0 0 0" xyz="0 0 0"/>
      <geometry>
        <mesh filename="package://iai_kitchen/meshes/drawers/Drawer_60_29.dae"/>
      </geometry>
    </collision>
  </link>
  <link name="fridge_area_lower_drawer_handle">
    <inertial>
      <origin rpy="0 0 0" xyz="0.0 0.0 0.0"/>
      <mass value="1"/>
      <inertia ixx="1" ixy="0.0" ixz="0.0" iyy="1" iyz="0.0" izz="1"/>
    </inertial>
    <visual>
      <origin rpy="0 0 0" xyz="0 0 0"/>
      <geometry>
        <mesh filename="package://iai_kitchen/meshes/handles/Handle60.dae"/>
      </geometry>
    </visual>
    <collision>
      <origin rpy="0 0 0" xyz="0 0 0"/>
      <geometry>
        <mesh filename="package://iai_kitchen/meshes/handles/Handle60.dae"/>
      </geometry>
    </collision>
  </link>
  <joint name="fridge_area_lower_drawer_main_joint" type="prismatic">
    <origin rpy="0 0 0" xyz="0.0 -0.0 -0.4175 "/>
    <parent link="fridge_area"/>
    <child link="fridge_area_lower_drawer_main"/>
    <axis xyz="1. 0. 0.0"/>
    <limit effort="300" lower="0" upper="0.48" velocity="10"/>
    <!--
          <limit effort="300" lower="0" upper="0" velocity="10"/>
      -->
  </joint>
  <joint name="fridge_area_lower_drawer_handle_joint" type="fixed">
    <origin rpy="0 0 0" xyz="0.3525 0 0.11"/>
    <parent link="fridge_area_lower_drawer_main"/>
    <child link="fridge_area_lower_drawer_handle"/>
    <axis xyz="0 0 1"/>
    <limit effort="300" lower="0" upper="1.57079632679" velocity="10"/>
  </joint>
  <link name="iai_fridge_main">
    <inertial>
      <origin rpy="0 0 0" xyz="0.0 0.0 0.0"/>
      <mass value="1"/>
      <inertia ixx="1" ixy="0.0" ixz="0.0" iyy="1" iyz="0.0" izz="1"/>
    </inertial>
    <visual>
      <origin rpy="0 0 0" xyz="0 0 0"/>
      <geometry>
        <mesh filename="package://iai_kitchen/meshes/misc/Fridge.dae"/>
      </geometry>
    </visual>
    <collision>
      <origin rpy="0 0 0" xyz="0 0 0"/>
      <geometry>
        <mesh filename="package://iai_kitchen/meshes/misc/Fridge.dae"/>
      </geometry>
    </collision>
  </link>
  <link name="iai_fridge_main_middle_level">
    <visual>
      <origin rpy="0 0 0" xyz="0 0 0"/>
      <geometry>
        <box size="0.29 0.50 0.01"/>
      </geometry>
    </visual>
    <collision>
      <origin rpy="0 0 0" xyz="0 0 0"/>
      <geometry>
        <box size="0.29 0.50 0.01"/>
      </geometry>
    </collision>
  </link>
  <link name="iai_fridge_door">
    <inertial>
      <origin rpy="0 0 0" xyz="0.0 0.0 0.0"/>
      <mass value="1"/>
      <inertia ixx="1" ixy="0.0" ixz="0.0" iyy="1" iyz="0.0" izz="1"/>
    </inertial>
    <visual>
      <origin rpy="0 0 0" xyz="0 0 0"/>
      <geometry>
        <mesh filename="package://iai_kitchen/meshes/misc/FridgeDoor.dae"/>
      </geometry>
    </visual>
    <collision>
      <origin rpy="0 0 0" xyz="0 0 0"/>
      <geometry>
        <mesh filename="package://iai_kitchen/meshes/misc/FridgeDoor.dae"/>
      </geometry>
    </collision>
  </link>
  <link name="iai_fridge_ceiling">
    <visual>
      <geometry>
        <box size="0.56 0.5 0.13"/>
      </geometry>
    </visual>
    <collision>
      <geometry>
        <box size="0.56 0.5 0.13"/>
      </geometry>
    </collision>
  </link>
  <link name="iai_fridge_door_handle">
    <inertial>
      <origin rpy="0 0 0" xyz="0.0 0.0 0.0"/>
      <mass value="1"/>
      <inertia ixx="1" ixy="0.0" ixz="0.0" iyy="1" iyz="0.0" izz="1"/>
    </inertial>
    <visual>
      <origin rpy="0 0 0" xyz="0 0 0"/>
      <geometry>
        <mesh filename="package://iai_kitchen/meshes/handles/VHandle90.dae"/>
      </geometry>
    </visual>
    <collision>
      <origin rpy="0 0 0" xyz="0 0 0"/>
      <geometry>
        <mesh filename="package://iai_kitchen/meshes/handles/VHandle90.dae"/>
      </geometry>
    </collision>
  </link>
  <joint name="iai_fridge_main_joint" type="fixed">
    <origin rpy="0 0 0" xyz="0 0 0.25"/>
    <parent link="fridge_area"/>
    <child link="iai_fridge_main"/>
  </joint>
  <joint name="iai_fridge_main_middle_level_joint" type="fixed">
    <parent link="iai_fridge_main"/>
    <child link="iai_fridge_main_middle_level"/>
    <origin rpy="0 0 0" xyz="-0.01 0 0.01"/>
  </joint>
  <joint name="iai_fridge_door_joint" type="revolute">
    <origin rpy="0 0 0" xyz="0.29 0.3 0"/>
    <parent link="iai_fridge_main"/>
    <child link="iai_fridge_door"/>
    <axis xyz="0 0 1"/>
    <limit effort="300" lower="0" upper="1.57079632679" velocity="10"/>
    <!--
      <limit lower="0" upper="0" effort="300" velocity="10"/>
-->
  </joint>
  <joint name="iai_fridge_ceiling_joint" type="fixed">
    <origin xyz="0.0 0.0 0.44"/>
    <parent link="iai_fridge_main"/>
    <child link="iai_fridge_ceiling"/>
  </joint>
  <joint name="iai_fridge_door_handle_joint" type="fixed">
    <origin rpy="0 0 0" xyz="0.09 -0.57 0."/>
    <parent link="iai_fridge_door"/>
    <child link="iai_fridge_door_handle"/>
  </joint>
  <link name="iai_fridge_door_block">
    <visual>
      <geometry>
        <box size="0.04 0.523 0.88"/>
      </geometry>
    </visual>
    <collision>
      <geometry>
        <box size="0.04 0.523 0.88"/>
      </geometry>
    </collision>
  </link>
  <link name="iai_fridge_door_block_right_bar">
    <visual>
      <geometry>
        <box size="0.06 0.015 0.73"/>
      </geometry>
    </visual>
    <collision>
      <geometry>
        <box size="0.06 0.015 0.73"/>
      </geometry>
    </collision>
  </link>
  <link name="iai_fridge_door_block_left_bar">
    <visual>
      <geometry>
        <box size="0.06 0.015 0.73"/>
      </geometry>
    </visual>
    <collision>
      <geometry>
        <box size="0.06 0.015 0.73"/>
      </geometry>
    </collision>
  </link>
  <link name="iai_fridge_door_block_top_bar">
    <visual>
      <geometry>
        <box size="0.045 0.46 0.01"/>
      </geometry>
    </visual>
    <collision>
      <geometry>
        <box size="0.045 0.46 0.01"/>
      </geometry>
    </collision>
  </link>
  <joint name="iai_fridge_door_block_joint" type="fixed">
    <origin xyz="-0.025 -0.27 -0.01"/>
    <parent link="iai_fridge_door"/>
    <child link="iai_fridge_door_block"/>
  </joint>
  <joint name="iai_fridge_door_block_right_bar_joint" type="fixed">
    <origin xyz="-0.0425 -0.2225 0.01"/>
    <parent link="iai_fridge_door_block"/>
    <child link="iai_fridge_door_block_right_bar"/>
  </joint>
  <joint name="iai_fridge_door_block_left_bar_joint" type="fixed">
    <origin xyz="-0.0425 0.2225 0.01"/>
    <parent link="iai_fridge_door_block"/>
    <child link="iai_fridge_door_block_left_bar"/>
  </joint>
  <joint name="iai_fridge_door_block_top_bar_joint" type="fixed">
    <origin xyz="-0.03 0 0.37"/>
    <parent link="iai_fridge_door_block"/>
    <child link="iai_fridge_door_block_top_bar"/>
  </joint>
  <joint name="iai_fridge_door_shelf1_to_door" type="fixed">
    <origin xyz="-0.07 0 -0.3525 "/>
    <child link="iai_fridge_door_shelf1_bottom"/>
    <parent link="iai_fridge_door_block"/>
  </joint>
  <link name="iai_fridge_door_shelf1_bottom">
    <visual>
      <geometry>
        <box size="0.1 0.35 0.01"/>
      </geometry>
    </visual>
    <collision>
      <geometry>
        <box size="0.1 0.35 0.01"/>
      </geometry>
    </collision>
  </link>
  <link name="iai_fridge_door_shelf1_left_side">
    <visual>
      <geometry>
        <box size="0.115 0.06 0.1"/>
      </geometry>
    </visual>
    <collision>
      <geometry>
        <box size="0.115 0.06 0.1"/>
      </geometry>
    </collision>
  </link>
  <link name="iai_fridge_door_shelf1_right_side">
    <visual>
      <geometry>
        <box size="0.115 0.06 0.1"/>
      </geometry>
    </visual>
    <collision>
      <geometry>
        <box size="0.115 0.06 0.1"/>
      </geometry>
    </collision>
  </link>
  <link name="iai_fridge_door_shelf1_front_side">
    <visual>
      <geometry>
        <box size="0.02 0.35 0.1"/>
      </geometry>
    </visual>
    <collision>
      <geometry>
        <box size="0.01 0.35 0.1"/>
      </geometry>
    </collision>
  </link>
  <joint name="iai_fridge_door_shelf1_left_to_bottom" type="fixed">
    <origin xyz="-0.0025 -0.2 0.045"/>
    <parent link="iai_fridge_door_shelf1_bottom"/>
    <child link="iai_fridge_door_shelf1_left_side"/>
  </joint>
  <joint name="iai_fridge_door_shelf1_right_to_bottom" type="fixed">
    <origin xyz="-0.0025 0.2 0.045"/>
    <parent link="iai_fridge_door_shelf1_bottom"/>
    <child link="iai_fridge_door_shelf1_right_side"/>
  </joint>
  <joint name="iai_fridge_door_shelf1_front_to_bottom" type="fixed">
    <origin xyz="-0.05 0 0.045"/>
    <parent link="iai_fridge_door_shelf1_bottom"/>
    <child link="iai_fridge_door_shelf1_front_side"/>
  </joint>
  <joint name="iai_fridge_door_shelf2_to_door" type="fixed">
    <origin xyz="-0.07 0 0.02"/>
    <child link="iai_fridge_door_shelf2_bottom"/>
    <parent link="iai_fridge_door_block"/>
  </joint>
  <link name="iai_fridge_door_shelf2_bottom">
    <visual>
      <geometry>
        <box size="0.1 0.35 0.01"/>
      </geometry>
    </visual>
    <collision>
      <geometry>
        <box size="0.1 0.35 0.01"/>
      </geometry>
    </collision>
  </link>
  <link name="iai_fridge_door_shelf2_left_side">
    <visual>
      <geometry>
        <box size="0.115 0.06 0.065"/>
      </geometry>
    </visual>
    <collision>
      <geometry>
        <box size="0.115 0.06 0.065"/>
      </geometry>
    </collision>
  </link>
  <link name="iai_fridge_door_shelf2_right_side">
    <visual>
      <geometry>
        <box size="0.115 0.06 0.065"/>
      </geometry>
    </visual>
    <collision>
      <geometry>
        <box size="0.115 0.06 0.065"/>
      </geometry>
    </collision>
  </link>
  <link name="iai_fridge_door_shelf2_front_side">
    <visual>
      <geometry>
        <box size="0.02 0.35 0.065"/>
      </geometry>
    </visual>
    <collision>
      <geometry>
        <box size="0.01 0.35 0.065"/>
      </geometry>
    </collision>
  </link>
  <joint name="iai_fridge_door_shelf2_left_to_bottom" type="fixed">
    <origin xyz="-0.0025 -0.2 0.0275"/>
    <parent link="iai_fridge_door_shelf2_bottom"/>
    <child link="iai_fridge_door_shelf2_left_side"/>
  </joint>
  <joint name="iai_fridge_door_shelf2_right_to_bottom" type="fixed">
    <origin xyz="-0.0025 0.2 0.0275"/>
    <parent link="iai_fridge_door_shelf2_bottom"/>
    <child link="iai_fridge_door_shelf2_right_side"/>
  </joint>
  <joint name="iai_fridge_door_shelf2_front_to_bottom" type="fixed">
    <origin xyz="-0.05 0 0.0275"/>
    <parent link="iai_fridge_door_shelf2_bottom"/>
    <child link="iai_fridge_door_shelf2_front_side"/>
  </joint>
  <joint name="iai_fridge_door_shelf3_to_door" type="fixed">
    <origin xyz="-0.07 0 0.23"/>
    <child link="iai_fridge_door_shelf3_bottom"/>
    <parent link="iai_fridge_door_block"/>
  </joint>
  <link name="iai_fridge_door_shelf3_bottom">
    <visual>
      <geometry>
        <box size="0.1 0.35 0.01"/>
      </geometry>
    </visual>
    <collision>
      <geometry>
        <box size="0.1 0.35 0.01"/>
      </geometry>
    </collision>
  </link>
  <link name="iai_fridge_door_shelf3_left_side">
    <visual>
      <geometry>
        <box size="0.115 0.06 0.065"/>
      </geometry>
    </visual>
    <collision>
      <geometry>
        <box size="0.115 0.06 0.065"/>
      </geometry>
    </collision>
  </link>
  <link name="iai_fridge_door_shelf3_right_side">
    <visual>
      <geometry>
        <box size="0.115 0.06 0.065"/>
      </geometry>
    </visual>
    <collision>
      <geometry>
        <box size="0.115 0.06 0.065"/>
      </geometry>
    </collision>
  </link>
  <link name="iai_fridge_door_shelf3_front_side">
    <visual>
      <geometry>
        <box size="0.02 0.35 0.065"/>
      </geometry>
    </visual>
    <collision>
      <geometry>
        <box size="0.01 0.35 0.065"/>
      </geometry>
    </collision>
  </link>
  <joint name="iai_fridge_door_shelf3_left_to_bottom" type="fixed">
    <origin xyz="-0.0025 -0.2 0.0275"/>
    <parent link="iai_fridge_door_shelf3_bottom"/>
    <child link="iai_fridge_door_shelf3_left_side"/>
  </joint>
  <joint name="iai_fridge_door_shelf3_right_to_bottom" type="fixed">
    <origin xyz="-0.0025 0.2 0.0275"/>
    <parent link="iai_fridge_door_shelf3_bottom"/>
    <child link="iai_fridge_door_shelf3_right_side"/>
  </joint>
  <joint name="iai_fridge_door_shelf3_front_to_bottom" type="fixed">
    <origin xyz="-0.05 0 0.0275"/>
    <parent link="iai_fridge_door_shelf3_bottom"/>
    <child link="iai_fridge_door_shelf3_front_side"/>
  </joint>
  <link name="table_area_main">
    <inertial>
      <origin rpy="0 0 0" xyz="0.0 0.0 0.0"/>
      <mass value="1"/>
      <inertia ixx="1" ixy="0.0" ixz="0.0" iyy="1" iyz="0.0" izz="1"/>
    </inertial>
    <visual>
      <origin rpy="0 0 0" xyz="0 0 0.3619"/>
      <geometry>
        <mesh filename="package://iai_kitchen/meshes/misc/big_table_1.stl"/>
      </geometry>
    </visual>
    <collision>
      <origin rpy="0 0 0" xyz="0 0 0.3619"/>
      <geometry>
        <mesh filename="package://iai_kitchen/meshes/misc/big_table_1.dae"/>
      </geometry>
    </collision>
  </link>
  <joint name="table_area_main_joint" type="fixed">
    <origin rpy="0 0 3.14159265359" xyz="-2.4 -1.5 0"/>
    <parent link="room_link"/>
    <child link="table_area_main"/>
  </joint>
  <link name="dining_area_footprint">
    <inertial>
      <origin rpy="0 0 0" xyz="0.0 0.0 0.0"/>
      <mass value="1"/>
      <inertia ixx="1" ixy="0.0" ixz="0.0" iyy="1" iyz="0.0" izz="1"/>
    </inertial>
  </link>
  <joint name="dining_area_footprint_joint" type="fixed">
    <origin rpy="0 0 1.57079632679" xyz="-3.38 0.28 0"/>
    <child link="dining_area_footprint"/>
    <parent link="room_link"/>
  </joint>
  <link name="dining_area_jokkmokk_table_main">
    <inertial>
      <origin rpy="0 0 0" xyz="0.0 0.0 0.0"/>
      <mass value="1"/>
      <inertia ixx="1" ixy="0.0" ixz="0.0" iyy="1" iyz="0.0" izz="1"/>
    </inertial>
    <visual>
      <origin rpy="0 0 0" xyz="0.0 0.0 0.0"/>
      <geometry>
        <mesh filename="package://iai_kitchen/meshes/jokkmokk/JokkmokkTable.obj" scale="1 1 1"/>
      </geometry>
    </visual>
    <collision>
      <origin rpy="0 0 0" xyz="0.0 0.0 0.0"/>
      <geometry>
        <mesh filename="package://iai_kitchen/meshes/jokkmokk/JokkmokkTable.obj" scale="1 1 1"/>
      </geometry>
    </collision>
  </link>
  <joint name="dining_area_jokkmokk_table_main_joint" type="fixed">
    <origin rpy="0 0 0" xyz="0 0 0"/>
    <parent link="dining_area_footprint"/>
    <child link="dining_area_jokkmokk_table_main"/>
  </joint>
  <link name="dining_area_jokkmokk_left_chair_main">
    <inertial>
      <origin rpy="0 0 0" xyz="0.0 0.0 0.0"/>
      <mass value="1"/>
      <inertia ixx="1" ixy="0.0" ixz="0.0" iyy="1" iyz="0.0" izz="1"/>
    </inertial>
    <visual>
      <origin rpy="0 0 0" xyz="0.0 0.0 0.0"/>
      <geometry>
        <mesh filename="package://iai_kitchen/meshes/jokkmokk/JokkmokkChair.obj" scale="1 1 1"/>
      </geometry>
    </visual>
    <collision>
      <origin rpy="0 0 0" xyz="0.0 0.0 0.0"/>
      <geometry>
        <mesh filename="package://iai_kitchen/meshes/jokkmokk/JokkmokkChair.obj" scale="1 1 1"/>
      </geometry>
    </collision>
  </link>
  <joint name="dining_area_jokkmokk_left_chair_main_joint" type="fixed">
    <origin rpy="0 0 0" xyz="-1 0 0"/>
    <parent link="dining_area_footprint"/>
    <child link="dining_area_jokkmokk_left_chair_main"/>
  </joint>
  <link name="dining_area_jokkmokk_right_chair_main">
    <inertial>
      <origin rpy="0 0 0" xyz="0.0 0.0 0.0"/>
      <mass value="1"/>
      <inertia ixx="1" ixy="0.0" ixz="0.0" iyy="1" iyz="0.0" izz="1"/>
    </inertial>
    <visual>
      <origin rpy="0 0 0" xyz="0.0 0.0 0.0"/>
      <geometry>
        <mesh filename="package://iai_kitchen/meshes/jokkmokk/JokkmokkChair.obj" scale="1 1 1"/>
      </geometry>
    </visual>
    <collision>
      <origin rpy="0 0 0" xyz="0.0 0.0 0.0"/>
      <geometry>
        <mesh filename="package://iai_kitchen/meshes/jokkmokk/JokkmokkChair.obj" scale="1 1 1"/>
      </geometry>
    </collision>
  </link>
  <joint name="dining_area_jokkmokk_right_chair_main_joint" type="fixed">
    <origin rpy="0 0 -3.14159265359" xyz="1 0 0"/>
    <parent link="dining_area_footprint"/>
    <child link="dining_area_jokkmokk_right_chair_main"/>
  </joint>
  <!-- LINKS -->
  <link name="kitchen_wall_1">
    <inertial>
      <origin rpy="0 0 0" xyz="0.0 0.0 0.0"/>
      <mass value="1"/>
      <inertia ixx="1" ixy="0.0" ixz="0.0" iyy="1" iyz="0.0" izz="1"/>
    </inertial>
    <visual>
      <origin rpy="0 0 0" xyz="0 0 1.25"/>
      <geometry>
        <box size="1.1376 0.15 2.5"/>
      </geometry>
    </visual>
    <collision>
      <origin rpy="0 0 0" xyz="0 0 1.25"/>
      <geometry>
        <box size="1.1376 0.15 2.5"/>
      </geometry>
    </collision>
  </link>
  <link name="kitchen_wall_2">
    <inertial>
      <origin rpy="0 0 0" xyz="0.0 0.0 0.0"/>
      <mass value="1"/>
      <inertia ixx="1" ixy="0.0" ixz="0.0" iyy="1" iyz="0.0" izz="1"/>
    </inertial>
    <visual>
      <origin rpy="0 0 0" xyz="0 0 1.25"/>
      <geometry>
        <box size="5.182 0.15 2.5"/>
      </geometry>
    </visual>
    <collision>
      <origin rpy="0 0 0" xyz="0 0 1.25"/>
      <geometry>
        <box size="5.182 0.15 2.5"/>
      </geometry>
    </collision>
  </link>
  <link name="kitchen_wall_3">
    <inertial>
      <origin rpy="0 0 0" xyz="0.0 0.0 0.0"/>
      <mass value="1"/>
      <inertia ixx="1" ixy="0.0" ixz="0.0" iyy="1" iyz="0.0" izz="1"/>
    </inertial>
    <visual>
      <origin rpy="0 0 0" xyz="0 0 1.25"/>
      <geometry>
        <box size="5.901 0.15 2.5"/>
      </geometry>
    </visual>
    <collision>
      <origin rpy="0 0 0" xyz="0 0 1.25"/>
      <geometry>
        <box size="5.901 0.15 2.5"/>
      </geometry>
    </collision>
  </link>
  <link name="kitchen_wall_4">
    <inertial>
      <origin rpy="0 0 0" xyz="0.0 0.0 0.0"/>
      <mass value="1"/>
      <inertia ixx="1" ixy="0.0" ixz="0.0" iyy="1" iyz="0.0" izz="1"/>
    </inertial>
    <visual>
      <origin rpy="0 0 0" xyz="0 0 0.35"/>
      <geometry>
        <box size="4.25 0.15 0.7"/>
      </geometry>
    </visual>
    <collision>
      <origin rpy="0 0 0" xyz="0 0 0.35"/>
      <geometry>
        <box size="4.25 0.15 0.7"/>
      </geometry>
    </collision>
  </link>
  <link name="kitchen_wall_5">
    <inertial>
      <origin rpy="0 0 0" xyz="0.0 0.0 0.0"/>
      <mass value="1"/>
      <inertia ixx="1" ixy="0.0" ixz="0.0" iyy="1" iyz="0.0" izz="1"/>
    </inertial>
    <visual>
      <origin rpy="0 0 0" xyz="0 0 0.35"/>
      <geometry>
        <box size="2.27328 0.15 0.7"/>
      </geometry>
    </visual>
    <collision>
      <origin rpy="0 0 0" xyz="0 0 0.35"/>
      <geometry>
        <box size="2.27328 0.15 0.7"/>
      </geometry>
    </collision>
  </link>
  <link name="kitchen_wall_6">
    <inertial>
      <origin rpy="0 0 0" xyz="0.0 0.0 0.0"/>
      <mass value="1"/>
      <inertia ixx="1" ixy="0.0" ixz="0.0" iyy="1" iyz="0.0" izz="1"/>
    </inertial>
    <visual>
      <origin rpy="0 0 0" xyz="0 0 0.35"/>
      <geometry>
        <box size="1 0.15 0.7"/>
      </geometry>
    </visual>
    <collision>
      <origin rpy="0 0 0" xyz="0 0 0.35"/>
      <geometry>
        <box size="1 0.15 0.7"/>
      </geometry>
    </collision>
  </link>
  <link name="kitchen_wall_7">
    <inertial>
      <origin rpy="0 0 0" xyz="0.0 0.0 0.0"/>
      <mass value="1"/>
      <inertia ixx="1" ixy="0.0" ixz="0.0" iyy="1" iyz="0.0" izz="1"/>
    </inertial>
    <visual>
      <origin rpy="0 0 0" xyz="0 0 0.375"/>
      <geometry>
        <box size="1.6 0.15 0.75"/>
      </geometry>
    </visual>
    <collision>
      <origin rpy="0 0 0" xyz="0 0 0.375"/>
      <geometry>
        <box size="1.6 0.15 0.75"/>
      </geometry>
    </collision>
  </link>
  <!-- JOINTS -->
  <link name="kitchen_walls"/>
  <joint name="walls_main_joint" type="fixed">
    <origin rpy="0.0 0.0 0.0" xyz="-0.96 0.65 0"/>
    <parent link="room_link"/>
    <child link="kitchen_walls"/>
  </joint>
  <joint name="wall_1_joint" type="fixed">
    <origin rpy="0 -0 3.14159" xyz="2.38151 -2.516 0"/>
    <parent link="kitchen_walls"/>
    <child link="kitchen_wall_1"/>
  </joint>
  <!--
    <joint name="wall_1_joint" type="fixed">
        <origin xyz="1 0.562175 0" rpy="0 0 0" />
      <parent link="kitchen_walls"/>
      <child link="kitchen_wall_1"/>
    </joint>
    -->
  <joint name="wall_2_joint" type="fixed">
    <origin rpy="0 -0 1.5708" xyz="2.87551 0 0"/>
    <parent link="kitchen_walls"/>
    <child link="kitchen_wall_2"/>
  </joint>
  <joint name="wall_3_joint" type="fixed">
    <origin rpy="0 -0 3.14159" xyz="0 2.516 0"/>
    <parent link="kitchen_walls"/>
    <child link="kitchen_wall_3"/>
  </joint>
  <joint name="wall_4_joint" type="fixed">
    <origin rpy="0 0 -1.5708" xyz="-2.87549 0.466 0"/>
    <parent link="kitchen_walls"/>
    <child link="kitchen_wall_4"/>
  </joint>
  <joint name="wall_5_joint" type="fixed">
    <origin rpy="0 -0 0.000157" xyz="-1.81385 -1.70376 0"/>
    <parent link="kitchen_walls"/>
    <child link="kitchen_wall_5"/>
  </joint>
  <joint name="wall_6_joint" type="fixed">
    <origin rpy="0 0 -1.5708" xyz="-0.65 -2.12851 0"/>
    <parent link="kitchen_walls"/>
    <child link="kitchen_wall_6"/>
  </joint>
  <joint name="wall_7_joint" type="fixed">
    <origin rpy="0 -0 3.14159" xyz="1.01271 -2.556 0"/>
    <parent link="kitchen_walls"/>
    <child link="kitchen_wall_7"/>
  </joint>
  <gazebo reference="kitchen_wall_6">
    <material>Gazebo/DarkGrey</material>
  </gazebo>
  <gazebo>
    <static>false</static>
  </gazebo>
</robot>
